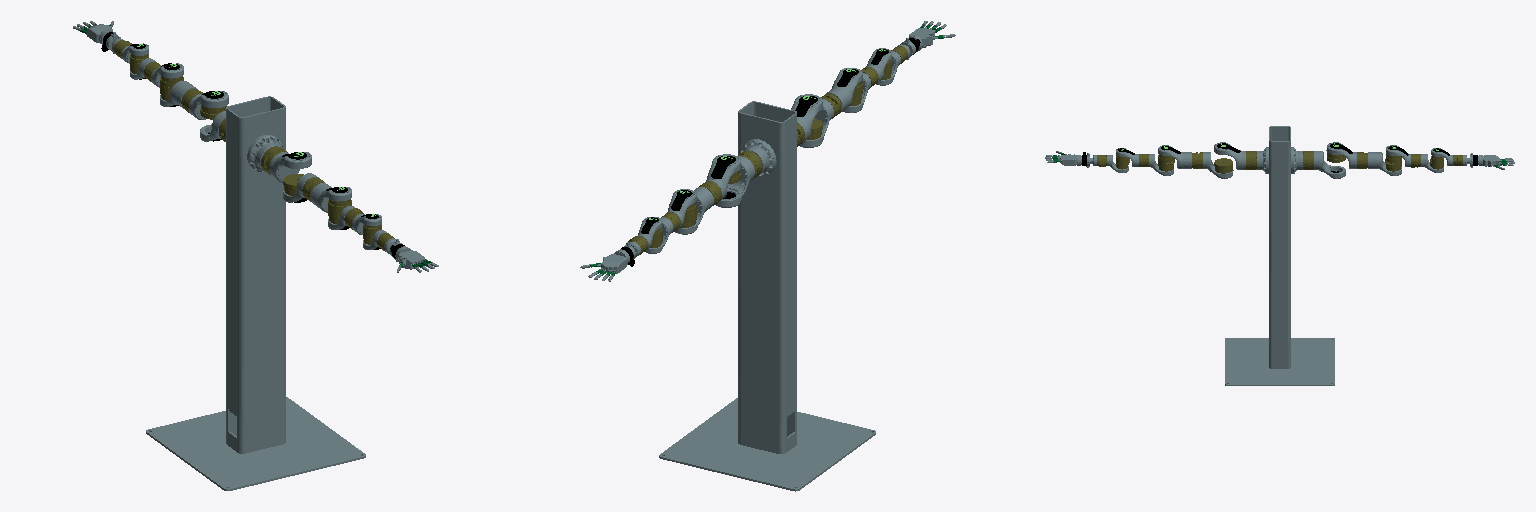
--- Render facts (derived) ---
3 views of the same robot in one strip: view 1: azimuth 30°, elevation 25°; view 2: azimuth 150°, elevation 25°; view 3: azimuth 270°, elevation 25° (orthographic).
Model hermesArm with 109 links and 108 joints (36 revolute, 72 fixed), rooted at pillar, posed all joints at 0.
Links seen in each view (by area): view 1: pillar, r_link1_link, r_base, r_link3_link, l_link2_link; view 2: pillar, l_link1_link, l_base, r_link3_link, l_link3_link; view 3: pillar.
Boxes of the visible links, bbox=[...] form: pillar: bbox=[146, 96, 365, 490]; r_link1_link: bbox=[269, 152, 311, 182]; r_base: bbox=[247, 135, 282, 171]; r_link3_link: bbox=[310, 183, 351, 212]; l_link2_link: bbox=[189, 91, 228, 119]; pillar: bbox=[659, 101, 875, 491]; l_link1_link: bbox=[715, 156, 754, 207]; l_base: bbox=[741, 139, 776, 175]; r_link3_link: bbox=[825, 68, 862, 113]; l_link3_link: bbox=[674, 187, 713, 234]; pillar: bbox=[1225, 126, 1334, 385].
Bounding box of the posed robot: 0.75 × 3.19 × 1.71 m (x, y, z).
95 mesh visuals loaded from 61 distinct referenced files (60 binary STL); not drawn: 2 (reference not matched to a file when rendering).

URDF robot description (hermesArm):
<?xml version="1.0"?>
<robot name="hermesArm">

 <!-- **************************** LINKS ***************************** -->
  <link name="pillar"> 
    <visual>
      <origin xyz="0 0 0"/>
      <geometry>
        <mesh filename="package://hermes_arm_kdl/stl/pillar.stl" />
      </geometry>
      <material name="link">
        <color rgba="0.4706 0.5451 0.5647 1"/>
      </material>
    </visual>
    <collision>
      <origin rpy="0 0 0" xyz="0 0 0"/>
      <geometry>
        <mesh filename="package://hermes_arm_kdl/stl/pillar.stl" />
      </geometry>
    </collision>	
  </link>

  <link name="l_base"> 
    <inertial>
      <origin xyz="0 0 0" /> 
      <mass value="1.0" />
      <inertia  ixx="1.0" ixy="0.0"  ixz="0.0"  iyy="1.0"  iyz="0.0"  izz="1.0" />
    </inertial>
    <visual>
      <origin xyz="0 0 0"/>
      <geometry>
        <mesh filename="package://hermes_arm_kdl/stl/schunk_base1.stl" />
      </geometry>
      <material name="link">
        <color rgba="0.4706 0.5451 0.5647 1"/>
      </material>
    </visual>
    <collision>
      <origin rpy="0 0 0" xyz="0 0 0"/>
      <geometry>
        <mesh filename="package://hermes_arm_kdl/stl/schunk_base1.stl" />
      </geometry>
    </collision>	
  </link>

  <link name="l_base_motor"> 
    <inertial>
      <origin xyz="0 0 0" /> 
      <mass value="1.0" />
      <inertia  ixx="1.0" ixy="0.0"  ixz="0.0"  iyy="1.0"  iyz="0.0"  izz="1.0" />
    </inertial>
    <visual>
      <origin xyz="0 0 0"/>
      <geometry>
        <mesh filename="package://hermes_arm_kdl/stl/schunk_base2.stl" />
      </geometry>
      <material name="motor">
        <color rgba="0.3922 0.3922 0.2118 1"/>
      </material>
    </visual>
    <collision>
      <origin rpy="0 0 0" xyz="0 0 0"/>
      <geometry>
        <mesh filename="package://hermes_arm_kdl/stl/schunk_base2.stl" />
      </geometry>
    </collision>	
  </link>

  <link name="l_link1_motor"> 
    <inertial>
      <origin xyz="0 0 0" /> 
      <mass value="1.0" />
      <inertia  ixx="1.0" ixy="0.0"  ixz="0.0"  iyy="1.0"  iyz="0.0"  izz="1.0" />
    </inertial>
    <visual>
      <origin xyz="0 0 0"/>
      <geometry>
        <mesh filename="package://hermes_arm_kdl/stl/schunk_link1_1.stl" />
      </geometry>
      <material name="motor">
        <color rgba="0.3922 0.3922 0.2118 1"/>
      </material>
    </visual>
    <collision>
      <origin rpy="0 0 0" xyz="0 0 0"/>
      <geometry>
        <mesh filename="package://hermes_arm_kdl/stl/schunk_link1_1.stl" />
      </geometry>
    </collision>	
  </link>

  <link name="l_link1_link"> 
    <inertial>
      <origin xyz="0 0 0" /> 
      <mass value="1.0" />
      <inertia  ixx="1.0" ixy="0.0"  ixz="0.0"  iyy="1.0"  iyz="0.0"  izz="1.0" />
    </inertial>
    <visual>
      <origin xyz="0 0 0"/>
      <geometry>
        <mesh filename="package://hermes_arm_kdl/stl/schunk_link1_2.stl" />
      </geometry>
      <material name="link">
        <color rgba="0.4706 0.5451 0.5647 1"/>
      </material>
    </visual>
    <collision>
      <origin rpy="0 0 0" xyz="0 0 0"/>
      <geometry>
        <mesh filename="package://hermes_arm_kdl/stl/schunk_link1_2.stl" />
      </geometry>
    </collision>	
  </link>
  

  <link name="l_link1_tapa"> 
    <inertial>
      <origin xyz="0 0 0" /> 
      <mass value="1.0" />
      <inertia  ixx="1.0" ixy="0.0"  ixz="0.0"  iyy="1.0"  iyz="0.0"  izz="1.0" />
    </inertial>
    <visual>
      <origin xyz="0 0 0"/>
      <geometry>
        <mesh filename="package://hermes_arm_kdl/stl/schunk_link1_3.stl" />
      </geometry>
      <material name="tapa">
        <color rgba="0.0100 0.0100 0.0100 1"/>
      </material>
    </visual>
    <collision>
      <origin rpy="0 0 0" xyz="0 0 0"/>
      <geometry>
        <mesh filename="package://hermes_arm_kdl/stl/schunk_link1_3.stl" />
      </geometry>
    </collision>	
  </link>

  <link name="l_link1_nbio"> 
    <inertial>
      <origin xyz="0 0 0" /> 
      <mass value="1.0" />
      <inertia  ixx="1.0" ixy="0.0"  ixz="0.0"  iyy="1.0"  iyz="0.0"  izz="1.0" />
    </inertial>
    <visual>
      <origin xyz="0 0 0"/>
      <geometry>
        <mesh filename="package://hermes_arm_kdl/stl/schunk_link1_4.stl" />
      </geometry>
      <material name="nbio">
        <color rgba="0.5100 0.9100 0.5100 1"/>
      </material>
    </visual>
    <collision>
      <origin rpy="0 0 0" xyz="0 0 0"/>
      <geometry>
        <mesh filename="package://hermes_arm_kdl/stl/schunk_link1_4.stl" />
      </geometry>
    </collision>	
  </link>


  <link name="l_link1_motor2"> 
    <inertial>
      <origin xyz="0 0 0" /> 
      <mass value="1.0" />
      <inertia  ixx="1.0" ixy="0.0"  ixz="0.0"  iyy="1.0"  iyz="0.0"  izz="1.0" />
    </inertial>
    <visual>
      <origin xyz="0 0 0"/>
      <geometry>
        <mesh filename="package://hermes_arm_kdl/stl/schunk_link1_5.stl" />
      </geometry>
      <material name="motor">
        <color rgba="0.3922 0.3922 0.2118 1"/>
      </material>
    </visual>
    <collision>
      <origin rpy="0 0 0" xyz="0 0 0"/>
      <geometry>
        <mesh filename="package://hermes_arm_kdl/stl/schunk_link1_5.stl" />
      </geometry>
    </collision>	
  </link>

  <link name="l_link2_motor"> 
    <inertial>
      <origin xyz="0 0 0" /> 
      <mass value="1.0" />
      <inertia  ixx="1.0" ixy="0.0"  ixz="0.0"  iyy="1.0"  iyz="0.0"  izz="1.0" />
    </inertial>
    <visual>
      <origin xyz="0 0 0"/>
      <geometry>
        <mesh filename="package://hermes_arm_kdl/stl/schunk_link2_1.stl" />
      </geometry>
      <material name="motor">
        <color rgba="0.3922 0.3922 0.2118 1"/>
      </material>
    </visual>
    <collision>
      <origin rpy="0 0 0" xyz="0 0 0"/>
      <geometry>
        <mesh filename="package://hermes_arm_kdl/stl/schunk_link2_1.stl" />
      </geometry>
    </collision>	
  </link>

  <link name="l_link2_link"> 
    <inertial>
      <origin xyz="0 0 0" /> 
      <mass value="1.0" />
      <inertia  ixx="1.0" ixy="0.0"  ixz="0.0"  iyy="1.0"  iyz="0.0"  izz="1.0" />
    </inertial>
    <visual>
      <origin xyz="0 0 0"/>
      <geometry>
        <mesh filename="package://hermes_arm_kdl/stl/schunk_link2_2.stl" />
      </geometry>
      <material name="link">
        <color rgba="0.4706 0.5451 0.5647 1"/>
      </material>
    </visual>
    <collision>
      <origin rpy="0 0 0" xyz="0 0 0"/>
      <geometry>
        <mesh filename="package://hermes_arm_kdl/stl/schunk_link2_2.stl" />
      </geometry>
    </collision>	
  </link>

  <link name="l_link2_tapa"> 
    <inertial>
      <origin xyz="0 0 0" /> 
      <mass value="1.0" />
      <inertia  ixx="1.0" ixy="0.0"  ixz="0.0"  iyy="1.0"  iyz="0.0"  izz="1.0" />
    </inertial>
    <visual>
      <origin xyz="0 0 0"/>
      <geometry>
        <mesh filename="package://hermes_arm_kdl/stl/schunk_link2_3.stl" />
      </geometry>
      <material name="tapa">
        <color rgba="0.0100 0.0100 0.0100 1"/>
      </material>
    </visual>
    <collision>
      <origin rpy="0 0 0" xyz="0 0 0"/>
      <geometry>
        <mesh filename="package://hermes_arm_kdl/stl/schunk_link2_3.stl" />
      </geometry>
    </collision>	
  </link>

  <link name="l_link2_nbio"> 
    <inertial>
      <origin xyz="0 0 0" /> 
      <mass value="1.0" />
      <inertia  ixx="1.0" ixy="0.0"  ixz="0.0"  iyy="1.0"  iyz="0.0"  izz="1.0" />
    </inertial>
    <visual>
      <origin xyz="0 0 0"/>
      <geometry>
        <mesh filename="package://hermes_arm_kdl/stl/schunk_link2_4.stl" />
      </geometry>
      <material name="nbio">
        <color rgba="0.5100 0.9100 0.5100 1"/>
      </material>
    </visual>
    <collision>
      <origin rpy="0 0 0" xyz="0 0 0"/>
      <geometry>
        <mesh filename="package://hermes_arm_kdl/stl/schunk_link2_4.stl" />
      </geometry>
    </collision>	
  </link>

  <link name="l_link2_motor2"> 
    <inertial>
      <origin xyz="0 0 0" /> 
      <mass value="1.0" />
      <inertia  ixx="1.0" ixy="0.0"  ixz="0.0"  iyy="1.0"  iyz="0.0"  izz="1.0" />
    </inertial>
    <visual>
      <origin xyz="0 0 0"/>
      <geometry>
        <mesh filename="package://hermes_arm_kdl/stl/schunk_link2_5.stl" />
      </geometry>
      <material name="motor">
        <color rgba="0.3922 0.3922 0.2118 1"/>
      </material>
    </visual>
    <collision>
      <origin rpy="0 0 0" xyz="0 0 0"/>
      <geometry>
        <mesh filename="package://hermes_arm_kdl/stl/schunk_link2_5.stl" />
      </geometry>
    </collision>	
  </link>

  <link name="l_link3_motor"> 
    <inertial>
      <origin xyz="0 0 0" /> 
      <mass value="1.0" />
      <inertia  ixx="1.0" ixy="0.0"  ixz="0.0"  iyy="1.0"  iyz="0.0"  izz="1.0" />
    </inertial>
    <visual>
      <origin xyz="0 0 0"/>
      <geometry>
        <mesh filename="package://hermes_arm_kdl/stl/schunk_link3_1.stl" />
      </geometry>
      <material name="motor">
        <color rgba="0.3922 0.3922 0.2118 1"/>
      </material>
    </visual>
    <collision>
      <origin rpy="0 0 0" xyz="0 0 0"/>
      <geometry>
        <mesh filename="package://hermes_arm_kdl/stl/schunk_link3_1.stl" />
      </geometry>
    </collision>	
  </link>

  <link name="l_link3_link"> 
    <inertial>
      <origin xyz="0 0 0" /> 
      <mass value="1.0" />
      <inertia  ixx="1.0" ixy="0.0"  ixz="0.0"  iyy="1.0"  iyz="0.0"  izz="1.0" />
    </inertial>
    <visual>
      <origin xyz="0 0 0"/>
      <geometry>
        <mesh filename="package://hermes_arm_kdl/stl/schunk_link3_2.stl" />
      </geometry>
      <material name="link">
        <color rgba="0.4706 0.5451 0.5647 1"/>
      </material>
    </visual>
    <collision>
      <origin rpy="0 0 0" xyz="0 0 0"/>
      <geometry>
        <mesh filename="package://hermes_arm_kdl/stl/schunk_link3_2.stl" />
      </geometry>
    </collision>	
  </link>

  <link name="l_link3_tapa"> 
    <inertial>
      <origin xyz="0 0 0" /> 
      <mass value="1.0" />
      <inertia  ixx="1.0" ixy="0.0"  ixz="0.0"  iyy="1.0"  iyz="0.0"  izz="1.0" />
    </inertial>
    <visual>
      <origin xyz="0 0 0"/>
      <geometry>
        <mesh filename="package://hermes_arm_kdl/stl/schunk_link3_3.stl" />
      </geometry>
      <material name="tapa">
        <color rgba="0.0100 0.0100 0.0100 1"/>
      </material>
    </visual>
    <collision>
      <origin rpy="0 0 0" xyz="0 0 0"/>
      <geometry>
        <mesh filename="package://hermes_arm_kdl/stl/schunk_link3_3.stl" />
      </geometry>
    </collision>	
  </link>

  <link name="l_link3_nbio"> 
    <inertial>
      <origin xyz="0 0 0" /> 
      <mass value="1.0" />
      <inertia  ixx="1.0" ixy="0.0"  ixz="0.0"  iyy="1.0"  iyz="0.0"  izz="1.0" />
    </inertial>
    <visual>
      <origin xyz="0 0 0"/>
      <geometry>
        <mesh filename="package://hermes_arm_kdl/stl/schunk_link3_4.stl" />
      </geometry>
      <material name="nbio">
        <color rgba="0.5100 0.9100 0.5100 1"/>
      </material>
    </visual>
    <collision>
      <origin rpy="0 0 0" xyz="0 0 0"/>
      <geometry>
        <mesh filename="package://hermes_arm_kdl/stl/schunk_link3_4.stl" />
      </geometry>
    </collision>	
  </link>

  <link name="l_link3_motor2"> 
    <inertial>
      <origin xyz="0 0 0" /> 
      <mass value="1.0" />
      <inertia  ixx="1.0" ixy="0.0"  ixz="0.0"  iyy="1.0"  iyz="0.0"  izz="1.0" />
    </inertial>
    <visual>
      <origin xyz="0 0 0"/>
      <geometry>
        <mesh filename="package://hermes_arm_kdl/stl/schunk_link3_5.stl" />
      </geometry>
      <material name="motor">
        <color rgba="0.3922 0.3922 0.2118 1"/>
      </material>
    </visual>
    <collision>
      <origin rpy="0 0 0" xyz="0 0 0"/>
      <geometry>
        <mesh filename="package://hermes_arm_kdl/stl/schunk_link3_5.stl" />
      </geometry>
    </collision>	
  </link>

  <link name="l_link4_motor"> 
    <inertial>
      <origin xyz="0 0 0" /> 
      <mass value="1.0" />
      <inertia  ixx="1.0" ixy="0.0"  ixz="0.0"  iyy="1.0"  iyz="0.0"  izz="1.0" />
    </inertial>
    <visual>
      <origin xyz="0 0 0"/>
      <geometry>
        <mesh filename="package://hermes_arm_kdl/stl/schunk_link4_1.stl" />
      </geometry>
      <material name="motor">
        <color rgba="0.3922 0.3922 0.2118 1"/>
      </material>
    </visual>
    <collision>
      <origin rpy="0 0 0" xyz="0 0 0"/>
      <geometry>
        <mesh filename="package://hermes_arm_kdl/stl/schunk_link4_1.stl" />
      </geometry>
    </collision>	
  </link>

  <link name="l_link4_link"> 
    <inertial>
      <origin xyz="0 0 0" /> 
      <mass value="1.0" />
      <inertia  ixx="1.0" ixy="0.0"  ixz="0.0"  iyy="1.0"  iyz="0.0"  izz="1.0" />
    </inertial>
    <visual>
      <origin xyz="0 0 0"/>
      <geometry>
        <mesh filename="package://hermes_arm_kdl/stl/schunk_link4_2.stl" />
      </geometry>
      <material name="link">
        <color rgba="0.4706 0.5451 0.5647 1"/>
      </material>
    </visual>
    <collision>
      <origin rpy="0 0 0" xyz="0 0 0"/>
      <geometry>
        <mesh filename="package://hermes_arm_kdl/stl/schunk_link4_2.stl" />
      </geometry>
    </collision>	
  </link>

  <link name="l_link4_tapa"> 
    <inertial>
      <origin xyz="0 0 0" /> 
      <mass value="1.0" />
      <inertia  ixx="1.0" ixy="0.0"  ixz="0.0"  iyy="1.0"  iyz="0.0"  izz="1.0" />
    </inertial>
    <visual>
      <origin xyz="0 0 0"/>
      <geometry>
        <mesh filename="package://hermes_arm_kdl/stl/schunk_link4_3.stl" />
      </geometry>
      <material name="tapa">
        <color rgba="0.0100 0.0100 0.0100 1"/>
      </material>
    </visual>
    <collision>
      <origin rpy="0 0 0" xyz="0 0 0"/>
      <geometry>
        <mesh filename="package://hermes_arm_kdl/stl/schunk_link4_3.stl" />
      </geometry>
    </collision>	
  </link>

  <link name="l_link4_nbio"> 
    <inertial>
      <origin xyz="0 0 0" /> 
      <mass value="1.0" />
      <inertia  ixx="1.0" ixy="0.0"  ixz="0.0"  iyy="1.0"  iyz="0.0"  izz="1.0" />
    </inertial>
    <visual>
      <origin xyz="0 0 0"/>
      <geometry>
        <mesh filename="package://hermes_arm_kdl/stl/schunk_link4_4.stl" />
      </geometry>
      <material name="nbio">
        <color rgba="0.5100 0.9100 0.5100 1"/>
      </material>
    </visual>
    <collision>
      <origin rpy="0 0 0" xyz="0 0 0"/>
      <geometry>
        <mesh filename="package://hermes_arm_kdl/stl/schunk_link4_4.stl" />
      </geometry>
    </collision>	
  </link>

  <link name="l_link4_motor2"> 
    <inertial>
      <origin xyz="0 0 0" /> 
      <mass value="1.0" />
      <inertia  ixx="1.0" ixy="0.0"  ixz="0.0"  iyy="1.0"  iyz="0.0"  izz="1.0" />
    </inertial>
    <visual>
      <origin xyz="0 0 0"/>
      <geometry>
        <mesh filename="package://hermes_arm_kdl/stl/schunk_link4_5.stl" />
      </geometry>
      <material name="motor">
        <color rgba="0.3922 0.3922 0.2118 1"/>
      </material>
    </visual>
    <collision>
      <origin rpy="0 0 0" xyz="0 0 0"/>
      <geometry>
        <mesh filename="package://hermes_arm_kdl/stl/schunk_link4_5.stl" />
      </geometry>
    </collision>	
  </link>

  <link name="l_link5_motor"> 
    <inertial>
      <origin xyz="0 0 0" /> 
      <mass value="1.0" />
      <inertia  ixx="1.0" ixy="0.0"  ixz="0.0"  iyy="1.0"  iyz="0.0"  izz="1.0" />
    </inertial>
    <visual>
      <origin xyz="0 0 0"/>
      <geometry>
        <mesh filename="package://hermes_arm_kdl/stl/schunk_link5_1.stl" />
      </geometry>
      <material name="motor">
        <color rgba="0.3922 0.3922 0.2118 1"/>
      </material>
    </visual>
    <collision>
      <origin rpy="0 0 0" xyz="0 0 0"/>
      <geometry>
        <mesh filename="package://hermes_arm_kdl/stl/schunk_link5_1.stl" />
      </geometry>
    </collision>	
  </link>

  <link name="l_link5_link"> 
    <inertial>
      <origin xyz="0 0 0" /> 
      <mass value="1.0" />
      <inertia  ixx="1.0" ixy="0.0"  ixz="0.0"  iyy="1.0"  iyz="0.0"  izz="1.0" />
    </inertial>
    <visual>
      <origin xyz="0 0 0"/>
      <geometry>
        <mesh filename="package://hermes_arm_kdl/stl/schunk_link5_2.stl" />
      </geometry>
      <material name="link">
        <color rgba="0.4706 0.5451 0.5647 1"/>
      </material>
    </visual>
    <collision>
      <origin rpy="0 0 0" xyz="0 0 0"/>
      <geometry>
        <mesh filename="package://hermes_arm_kdl/stl/schunk_link5_2.stl" />
      </geometry>
    </collision>	
  </link>

  <link name="l_link5_tapa"> 
    <inertial>
      <origin xyz="0 0 0" /> 
      <mass value="1.0" />
      <inertia  ixx="1.0" ixy="0.0"  ixz="0.0"  iyy="1.0"  iyz="0.0"  izz="1.0" />
    </inertial>
    <visual>
      <origin xyz="0 0 0"/>
      <geometry>
        <mesh filename="package://hermes_arm_kdl/stl/schunk_link5_3.stl" />
      </geometry>
      <material name="tapa">
        <color rgba="0.0100 0.0100 0.0100 1"/>
      </material>
    </visual>
    <collision>
      <origin rpy="0 0 0" xyz="0 0 0"/>
      <geometry>
        <mesh filename="package://hermes_arm_kdl/stl/schunk_link5_3.stl" />
      </geometry>
    </collision>	
  </link>

  <link name="l_link5_nbio"> 
    <inertial>
      <origin xyz="0 0 0" /> 
      <mass value="1.0" />
      <inertia  ixx="1.0" ixy="0.0"  ixz="0.0"  iyy="1.0"  iyz="0.0"  izz="1.0" />
    </inertial>
    <visual>
      <origin xyz="0 0 0"/>
      <geometry>
        <mesh filename="package://hermes_arm_kdl/stl/schunk_link5_4.stl" />
      </geometry>
      <material name="nbio">
        <color rgba="0.5100 0.9100 0.5100 1"/>
      </material>
    </visual>
    <collision>
      <origin rpy="0 0 0" xyz="0 0 0"/>
      <geometry>
        <mesh filename="package://hermes_arm_kdl/stl/schunk_link5_4.stl" />
      </geometry>
    </collision>	
  </link>

 <link name="l_link5_motor2"> 
    <inertial>
      <origin xyz="0 0 0" /> 
      <mass value="1.0" />
      <inertia  ixx="1.0" ixy="0.0"  ixz="0.0"  iyy="1.0"  iyz="0.0"  izz="1.0" />
    </inertial>
    <visual>
      <origin xyz="0 0 0"/>
      <geometry>
        <mesh filename="package://hermes_arm_kdl/stl/schunk_link5_5.stl" />
      </geometry>
      <material name="motor">
        <color rgba="0.3922 0.3922 0.2118 1"/>
      </material>
    </visual>
    <collision>
      <origin rpy="0 0 0" xyz="0 0 0"/>
      <geometry>
        <mesh filename="package://hermes_arm_kdl/stl/schunk_link5_5.stl" />
      </geometry>
    </collision>	
  </link>



  <link name="l_link6_motor"> 
    <inertial>
      <origin xyz="0 0 0" /> 
      <mass value="1.0" />
      <inertia  ixx="1.0" ixy="0.0"  ixz="0.0"  iyy="1.0"  iyz="0.0"  izz="1.0" />
    </inertial>
    <visual>
      <origin xyz="0 0 0"/>
      <geometry>
        <mesh filename="package://hermes_arm_kdl/stl/schunk_link6_1.stl" />
      </geometry>
      <material name="motor">
        <color rgba="0.3922 0.3922 0.2118 1"/>
      </material>
    </visual>
    <collision>
      <origin rpy="0 0 0" xyz="0 0 0"/>
      <geometry>
        <mesh filename="package://hermes_arm_kdl/stl/schunk_link6_1.stl" />
      </geometry>
    </collision>	
  </link>

  <link name="l_link6_link"> 
    <inertial>
      <origin xyz="0 0 0" /> 
      <mass value="1.0" />
      <inertia  ixx="1.0" ixy="0.0"  ixz="0.0"  iyy="1.0"  iyz="0.0"  izz="1.0" />
    </inertial>
    <visual>
      <origin xyz="0 0 0"/>
      <geometry>
        <mesh filename="package://hermes_arm_kdl/stl/schunk_link6_2.stl" />
      </geometry>
      <material name="link">
        <color rgba="0.4706 0.5451 0.5647 1"/>
      </material>
    </visual>
    <collision>
      <origin rpy="0 0 0" xyz="0 0 0"/>
      <geometry>
        <mesh filename="package://hermes_arm_kdl/stl/schunk_link6_2.stl" />
      </geometry>
    </collision>	
  </link>


  <link name="l_link6_tapa"> 
    <inertial>
      <origin xyz="0 0 0" /> 
      <mass value="1.0" />
      <inertia  ixx="1.0" ixy="0.0"  ixz="0.0"  iyy="1.0"  iyz="0.0"  izz="1.0" />
    </inertial>
    <visual>
      <origin xyz="0 0 0"/>
      <geometry>
        <mesh filename="package://hermes_arm_kdl/stl/schunk_link6_3.stl" />
      </geometry>
      <material name="tapa">
        <color rgba="0.0100 0.0100 0.0100 1"/>
      </material>
    </visual>
    <collision>
      <origin rpy="0 0 0" xyz="0 0 0"/>
      <geometry>
        <mesh filename="package://hermes_arm_kdl/stl/schunk_link6_3.stl" />
      </geometry>
    </collision>	
  </link>


  <link name="l_link6_nbio"> 
    <inertial>
      <origin xyz="0 0 0" /> 
      <mass value="1.0" />
      <inertia  ixx="1.0" ixy="0.0"  ixz="0.0"  iyy="1.0"  iyz="0.0"  izz="1.0" />
    </inertial>
    <visual>
      <origin xyz="0 0 0"/>
      <geometry>
        <mesh filename="package://hermes_arm_kdl/stl/schunk_link6_4.stl" />
      </geometry>
      <material name="nbio">
        <color rgba="0.5100 0.9100 0.5100 1"/>
      </material>
    </visual>
    <collision>
      <origin rpy="0 0 0" xyz="0 0 0"/>
      <geometry>
        <mesh filename="package://hermes_arm_kdl/stl/schunk_link6_4.stl" />
      </geometry>
    </collision>	
  </link>

  <link name="l_link6_motor2"> 
    <inertial>
      <origin xyz="0 0 0" /> 
      <mass value="1.0" />
      <inertia  ixx="1.0" ixy="0.0"  ixz="0.0"  iyy="1.0"  iyz="0.0"  izz="1.0" />
    </inertial>
    <visual>
      <origin xyz="0 0 0"/>
      <geometry>
        <mesh filename="package://hermes_arm_kdl/stl/schunk_link6_5.stl" />
      </geometry>
      <material name="motor">
        <color rgba="0.3922 0.3922 0.2118 1"/>
      </material>
    </visual>
    <collision>
      <origin rpy="0 0 0" xyz="0 0 0"/>
      <geometry>
        <mesh filename="package://hermes_arm_kdl/stl/schunk_link6_5.stl" />
      </geometry>
    </collision>	
  </link>
  
 
  <link name="l_link7_motor"> 
    <inertial>
      <origin xyz="0 0 0" /> 
      <mass value="1.0" />
      <inertia  ixx="1.0" ixy="0.0"  ixz="0.0"  iyy="1.0"  iyz="0.0"  izz="1.0" />
    </inertial>
    <visual>
      <origin xyz="0 0 0"/>
      <geometry>
        <mesh filename="package://hermes_arm_kdl/stl/schunk_link7_1.stl" />
      </geometry>
      <material name="motor">
        <color rgba="0.3922 0.3922 0.2118 1"/>
      </material>
    </visual>
    <collision>
      <origin rpy="0 0 0" xyz="0 0 0"/>
      <geometry>
        <mesh filename="package://hermes_arm_kdl/stl/schunk_link7_1.stl" />
      </geometry>
    </collision>	
  </link>


  <link name="l_link7_link"> 
    <inertial>
      <origin xyz="0 0 0" /> 
      <mass value="1.0" />
      <inertia  ixx="1.0" ixy="0.0"  ixz="0.0"  iyy="1.0"  iyz="0.0"  izz="1.0" />
    </inertial>
    <visual>
      <origin xyz="0 0 0"/>
      <geometry>
        <mesh filename="package://hermes_arm_kdl/stl/schunk_link7_2.stl" />
      </geometry>
      <material name="link">
        <color rgba="0.4706 0.5451 0.5647 1"/>
      </material>
    </visual>
    <collision>
      <origin rpy="0 0 0" xyz="0 0 0"/>
      <geometry>
        <mesh filename="package://hermes_arm_kdl/stl/schunk_link7_2.stl" />
      </geometry>
    </collision>	
  </link>

  <link name="l_link7_tapa"> 
    <inertial>
      <origin xyz="0 0 0" /> 
      <mass value="1.0" />
      <inertia  ixx="1.0" ixy="0.0"  ixz="0.0"  iyy="1.0"  iyz="0.0"  izz="1.0" />
    </inertial>
    <visual>
      <origin xyz="0 0 0"/>
      <geometry>
        <mesh filename="package://hermes_arm_kdl/stl/schunk_link7_3.stl" />
      </geometry>
      <material name="tapa">
        <color rgba="0.01 0.01 0.01 1"/>
      </material>
    </visual>
    <collision>
      <origin rpy="0 0 0" xyz="0 0 0"/>
      <geometry>
        <mesh filename="package://hermes_arm_kdl/stl/schunk_link7_3.stl" />
      </geometry>
    </collision>	
  </link>


  <link name="l_link7_link2"> 
    <inertial>
      <origin xyz="0 0 0" /> 
      <mass value="1.0" />
      <inertia  ixx="1.0" ixy="0.0"  ixz="0.0"  iyy="1.0"  iyz="0.0"  izz="1.0" />
    </inertial>
    <visual>
      <origin xyz="0 0 0"/>
      <geometry>
        <mesh filename="package://hermes_arm_kdl/stl/schunk_link7_4.stl" />
      </geometry>
      <material name="link">
        <color rgba="0.4706 0.5451 0.5647 1"/>
      </material>
    </visual>
    <collision>
      <origin rpy="0 0 0" xyz="0 0 0"/>
      <geometry>
        <mesh filename="package://hermes_arm_kdl/stl/schunk_link7_4.stl" />
      </geometry>
    </collision>
  </link>

  <link name="r_base"> 
    <inertial>
      <origin xyz="0 0 0" /> 
      <mass value="1.0" />
      <inertia  ixx="1.0" ixy="0.0"  ixz="0.0"  iyy="1.0"  iyz="0.0"  izz="1.0" />
    </inertial>
    <visual>
      <origin xyz="0 0 0"/>
      <geometry>
        <mesh filename="package://hermes_arm_kdl/stl/schunk_base1.stl" />
      </geometry>
      <material name="link">
        <color rgba="0.4706 0.5451 0.5647 1"/>
      </material>
    </visual>
    <collision>
      <origin rpy="0 0 0" xyz="0 0 0"/>
      <geometry>
        <mesh filename="package://hermes_arm_kdl/stl/schunk_base1.stl" />
      </geometry>
    </collision>	
  </link>

  <link name="r_base_motor"> 
    <inertial>
      <origin xyz="0 0 0" /> 
      <mass value="1.0" />
      <inertia  ixx="1.0" ixy="0.0"  ixz="0.0"  iyy="1.0"  iyz="0.0"  izz="1.0" />
    </inertial>
    <visual>
      <origin xyz="0 0 0"/>
      <geometry>
        <mesh filename="package://hermes_arm_kdl/stl/schunk_base2.stl" />
      </geometry>
      <material name="motor">
        <color rgba="0.3922 0.3922 0.2118 1"/>
      </material>
    </visual>
    <collision>
      <origin rpy="0 0 0" xyz="0 0 0"/>
      <geometry>
        <mesh filename="package://hermes_arm_kdl/stl/schunk_base2.stl" />
      </geometry>
    </collision>	
  </link>

  <link name="r_link1_motor"> 
    <inertial>
      <origin xyz="0 0 0" /> 
      <mass value="1.0" />
      <inertia  ixx="1.0" ixy="0.0"  ixz="0.0"  iyy="1.0"  iyz="0.0"  izz="1.0" />
    </inertial>
    <visual>
      <origin xyz="0 0 0"/>
      <geometry>
        <mesh filename="package://hermes_arm_kdl/stl/schunk_link1_1.stl" />
      </geometry>
      <material name="motor">
        <color rgba="0.3922 0.3922 0.2118 1"/>
      </material>
    </visual>
    <collision>
      <origin rpy="0 0 0" xyz="0 0 0"/>
      <geometry>
        <mesh filename="package://hermes_arm_kdl/stl/schunk_link1_1.stl" />
      </geometry>
    </collision>	
  </link>

  <link name="r_link1_link"> 
    <inertial>
      <origin xyz="0 0 0" /> 
      <mass value="1.0" />
      <inertia  ixx="1.0" ixy="0.0"  ixz="0.0"  iyy="1.0"  iyz="0.0"  izz="1.0" />
    </inertial>
    <visual>
      <origin xyz="0 0 0"/>
      <geometry>
        <mesh filename="package://hermes_arm_kdl/stl/schunk_link1_2.stl" />
      </geometry>
      <material name="link">
        <color rgba="0.4706 0.5451 0.5647 1"/>
      </material>
    </visual>
    <collision>
      <origin rpy="0 0 0" xyz="0 0 0"/>
      <geometry>
        <mesh filename="package://hermes_arm_kdl/stl/schunk_link1_2.stl" />
      </geometry>
    </collision>	
  </link>
  

  <link name="r_link1_tapa"> 
    <inertial>
      <origin xyz="0 0 0" /> 
      <mass value="1.0" />
      <inertia  ixx="1.0" ixy="0.0"  ixz="0.0"  iyy="1.0"  iyz="0.0"  izz="1.0" />
    </inertial>
    <visual>
      <origin xyz="0 0 0"/>
      <geometry>
        <mesh filename="package://hermes_arm_kdl/stl/schunk_link1_3.stl" />
      </geometry>
      <material name="tapa">
        <color rgba="0.0100 0.0100 0.0100 1"/>
      </material>
    </visual>
    <collision>
      <origin rpy="0 0 0" xyz="0 0 0"/>
      <geometry>
        <mesh filename="package://hermes_arm_kdl/stl/schunk_link1_3.stl" />
      </geometry>
    </collision>	
  </link>

  <link name="r_link1_nbio"> 
    <inertial>
      <origin xyz="0 0 0" /> 
      <mass value="1.0" />
      <inertia  ixx="1.0" ixy="0.0"  ixz="0.0"  iyy="1.0"  iyz="0.0"  izz="1.0" />
    </inertial>
    <visual>
      <origin xyz="0 0 0"/>
      <geometry>
        <mesh filename="package://hermes_arm_kdl/stl/schunk_link1_4.stl" />
      </geometry>
      <material name="nbio">
        <color rgba="0.5100 0.9100 0.5100 1"/>
      </material>
    </visual>
    <collision>
      <origin rpy="0 0 0" xyz="0 0 0"/>
      <geometry>
        <mesh filename="package://hermes_arm_kdl/stl/schunk_link1_4.stl" />
      </geometry>
    </collision>	
  </link>


  <link name="r_link1_motor2"> 
    <inertial>
      <origin xyz="0 0 0" /> 
      <mass value="1.0" />
      <inertia  ixx="1.0" ixy="0.0"  ixz="0.0"  iyy="1.0"  iyz="0.0"  izz="1.0" />
    </inertial>
    <visual>
      <origin xyz="0 0 0"/>
      <geometry>
        <mesh filename="package://hermes_arm_kdl/stl/schunk_link1_5.stl" />
      </geometry>
      <material name="motor">
        <color rgba="0.3922 0.3922 0.2118 1"/>
      </material>
    </visual>
    <collision>
      <origin rpy="0 0 0" xyz="0 0 0"/>
      <geometry>
        <mesh filename="package://hermes_arm_kdl/stl/schunk_link1_5.stl" />
      </geometry>
    </collision>	
  </link>

  <link name="r_link2_motor"> 
    <inertial>
      <origin xyz="0 0 0" /> 
      <mass value="1.0" />
      <inertia  ixx="1.0" ixy="0.0"  ixz="0.0"  iyy="1.0"  iyz="0.0"  izz="1.0" />
    </inertial>
    <visual>
      <origin xyz="0 0 0"/>
      <geometry>
        <mesh filename="package://hermes_arm_kdl/stl/schunk_link2_1.stl" />
      </geometry>
      <material name="motor">
        <color rgba="0.3922 0.3922 0.2118 1"/>
      </material>
    </visual>
    <collision>
      <origin rpy="0 0 0" xyz="0 0 0"/>
      <geometry>
        <mesh filename="package://hermes_arm_kdl/stl/schunk_link2_1.stl" />
      </geometry>
    </collision>	
  </link>

  <link name="r_link2_link"> 
    <inertial>
      <origin xyz="0 0 0" /> 
      <mass value="1.0" />
      <inertia  ixx="1.0" ixy="0.0"  ixz="0.0"  iyy="1.0"  iyz="0.0"  izz="1.0" />
    </inertial>
    <visual>
      <origin xyz="0 0 0"/>
      <geometry>
        <mesh filename="package://hermes_arm_kdl/stl/schunk_link2_2.stl" />
      </geometry>
      <material name="link">
        <color rgba="0.4706 0.5451 0.5647 1"/>
      </material>
    </visual>
    <collision>
      <origin rpy="0 0 0" xyz="0 0 0"/>
      <geometry>
        <mesh filename="package://hermes_arm_kdl/stl/schunk_link2_2.stl" />
      </geometry>
    </collision>	
  </link>

  <link name="r_link2_tapa"> 
    <inertial>
      <origin xyz="0 0 0" /> 
      <mass value="1.0" />
      <inertia  ixx="1.0" ixy="0.0"  ixz="0.0"  iyy="1.0"  iyz="0.0"  izz="1.0" />
    </inertial>
    <visual>
      <origin xyz="0 0 0"/>
      <geometry>
        <mesh filename="package://hermes_arm_kdl/stl/schunk_link2_3.stl" />
      </geometry>
      <material name="tapa">
        <color rgba="0.0100 0.0100 0.0100 1"/>
      </material>
    </visual>
    <collision>
      <origin rpy="0 0 0" xyz="0 0 0"/>
      <geometry>
        <mesh filename="package://hermes_arm_kdl/stl/schunk_link2_3.stl" />
      </geometry>
    </collision>	
  </link>

  <link name="r_link2_nbio"> 
    <inertial>
      <origin xyz="0 0 0" /> 
      <mass value="1.0" />
      <inertia  ixx="1.0" ixy="0.0"  ixz="0.0"  iyy="1.0"  iyz="0.0"  izz="1.0" />
    </inertial>
    <visual>
      <origin xyz="0 0 0"/>
      <geometry>
        <mesh filename="package://hermes_arm_kdl/stl/schunk_link2_4.stl" />
      </geometry>
      <material name="nbio">
        <color rgba="0.5100 0.9100 0.5100 1"/>
      </material>
    </visual>
    <collision>
      <origin rpy="0 0 0" xyz="0 0 0"/>
      <geometry>
        <mesh filename="package://hermes_arm_kdl/stl/schunk_link2_4.stl" />
      </geometry>
    </collision>	
  </link>

  <link name="r_link2_motor2"> 
    <inertial>
      <origin xyz="0 0 0" /> 
      <mass value="1.0" />
      <inertia  ixx="1.0" ixy="0.0"  ixz="0.0"  iyy="1.0"  iyz="0.0"  izz="1.0" />
    </inertial>
    <visual>
      <origin xyz="0 0 0"/>
      <geometry>
        <mesh filename="package://hermes_arm_kdl/stl/schunk_link2_5.stl" />
      </geometry>
      <material name="motor">
        <color rgba="0.3922 0.3922 0.2118 1"/>
      </material>
    </visual>
    <collision>
      <origin rpy="0 0 0" xyz="0 0 0"/>
      <geometry>
        <mesh filename="package://hermes_arm_kdl/stl/schunk_link2_5.stl" />
      </geometry>
    </collision>	
  </link>

  <link name="r_link3_motor"> 
    <inertial>
      <origin xyz="0 0 0" /> 
      <mass value="1.0" />
      <inertia  ixx="1.0" ixy="0.0"  ixz="0.0"  iyy="1.0"  iyz="0.0"  izz="1.0" />
    </inertial>
    <visual>
      <origin xyz="0 0 0"/>
      <geometry>
        <mesh filename="package://hermes_arm_kdl/stl/schunk_link3_1.stl" />
      </geometry>
      <material name="motor">
        <color rgba="0.3922 0.3922 0.2118 1"/>
      </material>
    </visual>
    <collision>
      <origin rpy="0 0 0" xyz="0 0 0"/>
      <geometry>
        <mesh filename="package://hermes_arm_kdl/stl/schunk_link3_1.stl" />
      </geometry>
    </collision>	
  </link>

  <link name="r_link3_link"> 
    <inertial>
      <origin xyz="0 0 0" /> 
      <mass value="1.0" />
      <inertia  ixx="1.0" ixy="0.0"  ixz="0.0"  iyy="1.0"  iyz="0.0"  izz="1.0" />
    </inertial>
    <visual>
      <origin xyz="0 0 0"/>
      <geometry>
        <mesh filename="package://hermes_arm_kdl/stl/schunk_link3_2.stl" />
      </geometry>
      <material name="link">
        <color rgba="0.4706 0.5451 0.5647 1"/>
      </material>
    </visual>
    <collision>
      <origin rpy="0 0 0" xyz="0 0 0"/>
      <geometry>
        <mesh filename="package://hermes_arm_kdl/stl/schunk_link3_2.stl" />
      </geometry>
    </collision>	
  </link>

  <link name="r_link3_tapa"> 
    <inertial>
      <origin xyz="0 0 0" /> 
      <mass value="1.0" />
      <inertia  ixx="1.0" ixy="0.0"  ixz="0.0"  iyy="1.0"  iyz="0.0"  izz="1.0" />
    </inertial>
    <visual>
      <origin xyz="0 0 0"/>
      <geometry>
        <mesh filename="package://hermes_arm_kdl/stl/schunk_link3_3.stl" />
      </geometry>
      <material name="tapa">
        <color rgba="0.0100 0.0100 0.0100 1"/>
      </material>
    </visual>
    <collision>
      <origin rpy="0 0 0" xyz="0 0 0"/>
      <geometry>
        <mesh filename="package://hermes_arm_kdl/stl/schunk_link3_3.stl" />
      </geometry>
    </collision>	
  </link>

  <link name="r_link3_nbio"> 
    <inertial>
      <origin xyz="0 0 0" /> 
      <mass value="1.0" />
      <inertia  ixx="1.0" ixy="0.0"  ixz="0.0"  iyy="1.0"  iyz="0.0"  izz="1.0" />
    </inertial>
    <visual>
      <origin xyz="0 0 0"/>
      <geometry>
        <mesh filename="package://hermes_arm_kdl/stl/schunk_link3_4.stl" />
      </geometry>
      <material name="nbio">
        <color rgba="0.5100 0.9100 0.5100 1"/>
      </material>
    </visual>
    <collision>
      <origin rpy="0 0 0" xyz="0 0 0"/>
      <geometry>
        <mesh filename="package://hermes_arm_kdl/stl/schunk_link3_4.stl" />
      </geometry>
    </collision>	
  </link>

  <link name="r_link3_motor2"> 
    <inertial>
      <origin xyz="0 0 0" /> 
      <mass value="1.0" />
      <inertia  ixx="1.0" ixy="0.0"  ixz="0.0"  iyy="1.0"  iyz="0.0"  izz="1.0" />
    </inertial>
    <visual>
      <origin xyz="0 0 0"/>
      <geometry>
        <mesh filename="package://hermes_arm_kdl/stl/schunk_link3_5.stl" />
      </geometry>
      <material name="motor">
        <color rgba="0.3922 0.3922 0.2118 1"/>
      </material>
    </visual>
    <collision>
      <origin rpy="0 0 0" xyz="0 0 0"/>
      <geometry>
        <mesh filename="package://hermes_arm_kdl/stl/schunk_link3_5.stl" />
      </geometry>
    </collision>	
  </link>

  <link name="r_link4_motor"> 
    <inertial>
      <origin xyz="0 0 0" /> 
      <mass value="1.0" />
      <inertia  ixx="1.0" ixy="0.0"  ixz="0.0"  iyy="1.0"  iyz="0.0"  izz="1.0" />
    </inertial>
    <visual>
      <origin xyz="0 0 0"/>
      <geometry>
        <mesh filename="package://hermes_arm_kdl/stl/schunk_link4_1.stl" />
      </geometry>
      <material name="motor">
        <color rgba="0.3922 0.3922 0.2118 1"/>
      </material>
    </visual>
    <collision>
      <origin rpy="0 0 0" xyz="0 0 0"/>
      <geometry>
        <mesh filename="package://hermes_arm_kdl/stl/schunk_link4_1.stl" />
      </geometry>
    </collision>	
  </link>

  <link name="r_link4_link"> 
    <inertial>
      <origin xyz="0 0 0" /> 
      <mass value="1.0" />
      <inertia  ixx="1.0" ixy="0.0"  ixz="0.0"  iyy="1.0"  iyz="0.0"  izz="1.0" />
    </inertial>
    <visual>
      <origin xyz="0 0 0"/>
      <geometry>
        <mesh filename="package://hermes_arm_kdl/stl/schunk_link4_2.stl" />
      </geometry>
      <material name="link">
        <color rgba="0.4706 0.5451 0.5647 1"/>
      </material>
    </visual>
    <collision>
      <origin rpy="0 0 0" xyz="0 0 0"/>
      <geometry>
        <mesh filename="package://hermes_arm_kdl/stl/schunk_link4_2.stl" />
      </geometry>
    </collision>	
  </link>

  <link name="r_link4_tapa"> 
    <inertial>
      <origin xyz="0 0 0" /> 
      <mass value="1.0" />
      <inertia  ixx="1.0" ixy="0.0"  ixz="0.0"  iyy="1.0"  iyz="0.0"  izz="1.0" />
    </inertial>
    <visual>
      <origin xyz="0 0 0"/>
      <geometry>
        <mesh filename="package://hermes_arm_kdl/stl/schunk_link4_3.stl" />
      </geometry>
      <material name="tapa">
        <color rgba="0.0100 0.0100 0.0100 1"/>
      </material>
    </visual>
    <collision>
      <origin rpy="0 0 0" xyz="0 0 0"/>
      <geometry>
        <mesh filename="package://hermes_arm_kdl/stl/schunk_link4_3.stl" />
      </geometry>
    </collision>	
  </link>

  <link name="r_link4_nbio"> 
    <inertial>
      <origin xyz="0 0 0" /> 
      <mass value="1.0" />
      <inertia  ixx="1.0" ixy="0.0"  ixz="0.0"  iyy="1.0"  iyz="0.0"  izz="1.0" />
    </inertial>
    <visual>
      <origin xyz="0 0 0"/>
      <geometry>
        <mesh filename="package://hermes_arm_kdl/stl/schunk_link4_4.stl" />
      </geometry>
      <material name="nbio">
        <color rgba="0.5100 0.9100 0.5100 1"/>
      </material>
    </visual>
    <collision>
      <origin rpy="0 0 0" xyz="0 0 0"/>
      <geometry>
        <mesh filename="package://hermes_arm_kdl/stl/schunk_link4_4.stl" />
      </geometry>
    </collision>	
  </link>

  <link name="r_link4_motor2"> 
    <inertial>
      <origin xyz="0 0 0" /> 
      <mass value="1.0" />
      <inertia  ixx="1.0" ixy="0.0"  ixz="0.0"  iyy="1.0"  iyz="0.0"  izz="1.0" />
    </inertial>
    <visual>
      <origin xyz="0 0 0"/>
      <geometry>
        <mesh filename="package://hermes_arm_kdl/stl/schunk_link4_5.stl" />
      </geometry>
      <material name="motor">
        <color rgba="0.3922 0.3922 0.2118 1"/>
      </material>
    </visual>
    <collision>
      <origin rpy="0 0 0" xyz="0 0 0"/>
      <geometry>
        <mesh filename="package://hermes_arm_kdl/stl/schunk_link4_5.stl" />
      </geometry>
    </collision>	
  </link>

  <link name="r_link5_motor"> 
    <inertial>
      <origin xyz="0 0 0" /> 
      <mass value="1.0" />
      <inertia  ixx="1.0" ixy="0.0"  ixz="0.0"  iyy="1.0"  iyz="0.0"  izz="1.0" />
    </inertial>
    <visual>
      <origin xyz="0 0 0"/>
      <geometry>
        <mesh filename="package://hermes_arm_kdl/stl/schunk_link5_1.stl" />
      </geometry>
      <material name="motor">
        <color rgba="0.3922 0.3922 0.2118 1"/>
      </material>
    </visual>
    <collision>
      <origin rpy="0 0 0" xyz="0 0 0"/>
      <geometry>
        <mesh filename="package://hermes_arm_kdl/stl/schunk_link5_1.stl" />
      </geometry>
    </collision>	
  </link>

  <link name="r_link5_link"> 
    <inertial>
      <origin xyz="0 0 0" /> 
      <mass value="1.0" />
      <inertia  ixx="1.0" ixy="0.0"  ixz="0.0"  iyy="1.0"  iyz="0.0"  izz="1.0" />
    </inertial>
    <visual>
      <origin xyz="0 0 0"/>
      <geometry>
        <mesh filename="package://hermes_arm_kdl/stl/schunk_link5_2.stl" />
      </geometry>
      <material name="link">
        <color rgba="0.4706 0.5451 0.5647 1"/>
      </material>
    </visual>
    <collision>
      <origin rpy="0 0 0" xyz="0 0 0"/>
      <geometry>
        <mesh filename="package://hermes_arm_kdl/stl/schunk_link5_2.stl" />
      </geometry>
    </collision>	
  </link>

  <link name="r_link5_tapa"> 
    <inertial>
      <origin xyz="0 0 0" /> 
      <mass value="1.0" />
      <inertia  ixx="1.0" ixy="0.0"  ixz="0.0"  iyy="1.0"  iyz="0.0"  izz="1.0" />
    </inertial>
    <visual>
      <origin xyz="0 0 0"/>
      <geometry>
        <mesh filename="package://hermes_arm_kdl/stl/schunk_link5_3.stl" />
      </geometry>
      <material name="tapa">
        <color rgba="0.0100 0.0100 0.0100 1"/>
      </material>
    </visual>
    <collision>
      <origin rpy="0 0 0" xyz="0 0 0"/>
      <geometry>
        <mesh filename="package://hermes_arm_kdl/stl/schunk_link5_3.stl" />
      </geometry>
    </collision>	
  </link>

  <link name="r_link5_nbio"> 
    <inertial>
      <origin xyz="0 0 0" /> 
      <mass value="1.0" />
      <inertia  ixx="1.0" ixy="0.0"  ixz="0.0"  iyy="1.0"  iyz="0.0"  izz="1.0" />
    </inertial>
    <visual>
      <origin xyz="0 0 0"/>
      <geometry>
        <mesh filename="package://hermes_arm_kdl/stl/schunk_link5_4.stl" />
      </geometry>
      <material name="nbio">
        <color rgba="0.5100 0.9100 0.5100 1"/>
      </material>
    </visual>
    <collision>
      <origin rpy="0 0 0" xyz="0 0 0"/>
      <geometry>
        <mesh filename="package://hermes_arm_kdl/stl/schunk_link5_4.stl" />
      </geometry>
    </collision>	
  </link>

 <link name="r_link5_motor2"> 
    <inertial>
      <origin xyz="0 0 0" /> 
      <mass value="1.0" />
      <inertia  ixx="1.0" ixy="0.0"  ixz="0.0"  iyy="1.0"  iyz="0.0"  izz="1.0" />
    </inertial>
    <visual>
      <origin xyz="0 0 0"/>
      <geometry>
        <mesh filename="package://hermes_arm_kdl/stl/schunk_link5_5.stl" />
      </geometry>
      <material name="motor">
        <color rgba="0.3922 0.3922 0.2118 1"/>
      </material>
    </visual>
    <collision>
      <origin rpy="0 0 0" xyz="0 0 0"/>
      <geometry>
        <mesh filename="package://hermes_arm_kdl/stl/schunk_link5_5.stl" />
      </geometry>
    </collision>	
  </link>



  <link name="r_link6_motor"> 
    <inertial>
      <origin xyz="0 0 0" /> 
      <mass value="1.0" />
      <inertia  ixx="1.0" ixy="0.0"  ixz="0.0"  iyy="1.0"  iyz="0.0"  izz="1.0" />
    </inertial>
    <visual>
      <origin xyz="0 0 0"/>
      <geometry>
        <mesh filename="package://hermes_arm_kdl/stl/schunk_link6_1.stl" />
      </geometry>
      <material name="motor">
        <color rgba="0.3922 0.3922 0.2118 1"/>
      </material>
    </visual>
    <collision>
      <origin rpy="0 0 0" xyz="0 0 0"/>
      <geometry>
        <mesh filename="package://hermes_arm_kdl/stl/schunk_link6_1.stl" />
      </geometry>
    </collision>	
  </link>

  <link name="r_link6_link"> 
    <inertial>
      <origin xyz="0 0 0" /> 
      <mass value="1.0" />
      <inertia  ixx="1.0" ixy="0.0"  ixz="0.0"  iyy="1.0"  iyz="0.0"  izz="1.0" />
    </inertial>
    <visual>
      <origin xyz="0 0 0"/>
      <geometry>
        <mesh filename="package://hermes_arm_kdl/stl/schunk_link6_2.stl" />
      </geometry>
      <material name="link">
        <color rgba="0.4706 0.5451 0.5647 1"/>
      </material>
    </visual>
    <collision>
      <origin rpy="0 0 0" xyz="0 0 0"/>
      <geometry>
        <mesh filename="package://hermes_arm_kdl/stl/schunk_link6_2.stl" />
      </geometry>
    </collision>	
  </link>


  <link name="r_link6_tapa"> 
    <inertial>
      <origin xyz="0 0 0" /> 
      <mass value="1.0" />
      <inertia  ixx="1.0" ixy="0.0"  ixz="0.0"  iyy="1.0"  iyz="0.0"  izz="1.0" />
    </inertial>
    <visual>
      <origin xyz="0 0 0"/>
      <geometry>
        <mesh filename="package://hermes_arm_kdl/stl/schunk_link6_3.stl" />
      </geometry>
      <material name="tapa">
        <color rgba="0.0100 0.0100 0.0100 1"/>
      </material>
    </visual>
    <collision>
      <origin rpy="0 0 0" xyz="0 0 0"/>
      <geometry>
        <mesh filename="package://hermes_arm_kdl/stl/schunk_link6_3.stl" />
      </geometry>
    </collision>	
  </link>


  <link name="r_link6_nbio"> 
    <inertial>
      <origin xyz="0 0 0" /> 
      <mass value="1.0" />
      <inertia  ixx="1.0" ixy="0.0"  ixz="0.0"  iyy="1.0"  iyz="0.0"  izz="1.0" />
    </inertial>
    <visual>
      <origin xyz="0 0 0"/>
      <geometry>
        <mesh filename="package://hermes_arm_kdl/stl/schunk_link6_4.stl" />
      </geometry>
      <material name="nbio">
        <color rgba="0.5100 0.9100 0.5100 1"/>
      </material>
    </visual>
    <collision>
      <origin rpy="0 0 0" xyz="0 0 0"/>
      <geometry>
        <mesh filename="package://hermes_arm_kdl/stl/schunk_link6_4.stl" />
      </geometry>
    </collision>	
  </link>

  <link name="r_link6_motor2"> 
    <inertial>
      <origin xyz="0 0 0" /> 
      <mass value="1.0" />
      <inertia  ixx="1.0" ixy="0.0"  ixz="0.0"  iyy="1.0"  iyz="0.0"  izz="1.0" />
    </inertial>
    <visual>
      <origin xyz="0 0 0"/>
      <geometry>
        <mesh filename="package://hermes_arm_kdl/stl/schunk_link6_5.stl" />
      </geometry>
      <material name="motor">
        <color rgba="0.3922 0.3922 0.2118 1"/>
      </material>
    </visual>
    <collision>
      <origin rpy="0 0 0" xyz="0 0 0"/>
      <geometry>
        <mesh filename="package://hermes_arm_kdl/stl/schunk_link6_5.stl" />
      </geometry>
    </collision>	
  </link>
  
 
  <link name="r_link7_motor"> 
    <inertial>
      <origin xyz="0 0 0" /> 
      <mass value="1.0" />
      <inertia  ixx="1.0" ixy="0.0"  ixz="0.0"  iyy="1.0"  iyz="0.0"  izz="1.0" />
    </inertial>
    <visual>
      <origin xyz="0 0 0"/>
      <geometry>
        <mesh filename="package://hermes_arm_kdl/stl/schunk_link7_1.stl" />
      </geometry>
      <material name="motor">
        <color rgba="0.3922 0.3922 0.2118 1"/>
      </material>
    </visual>
    <collision>
      <origin rpy="0 0 0" xyz="0 0 0"/>
      <geometry>
        <mesh filename="package://hermes_arm_kdl/stl/schunk_link7_1.stl" />
      </geometry>
    </collision>	
  </link>


  <link name="r_link7_link"> 
    <inertial>
      <origin xyz="0 0 0" /> 
      <mass value="1.0" />
      <inertia  ixx="1.0" ixy="0.0"  ixz="0.0"  iyy="1.0"  iyz="0.0"  izz="1.0" />
    </inertial>
    <visual>
      <origin xyz="0 0 0"/>
      <geometry>
        <mesh filename="package://hermes_arm_kdl/stl/schunk_link7_2.stl" />
      </geometry>
      <material name="link">
        <color rgba="0.4706 0.5451 0.5647 1"/>
      </material>
    </visual>
    <collision>
      <origin rpy="0 0 0" xyz="0 0 0"/>
      <geometry>
        <mesh filename="package://hermes_arm_kdl/stl/schunk_link7_2.stl" />
      </geometry>
    </collision>	
  </link>

  <link name="r_link7_tapa"> 
    <inertial>
      <origin xyz="0 0 0" /> 
      <mass value="1.0" />
      <inertia  ixx="1.0" ixy="0.0"  ixz="0.0"  iyy="1.0"  iyz="0.0"  izz="1.0" />
    </inertial>
    <visual>
      <origin xyz="0 0 0"/>
      <geometry>
        <mesh filename="package://hermes_arm_kdl/stl/schunk_link7_3.stl" />
      </geometry>
      <material name="tapa">
        <color rgba="0.01 0.01 0.01 1"/>
      </material>
    </visual>
    <collision>
      <origin rpy="0 0 0" xyz="0 0 0"/>
      <geometry>
        <mesh filename="package://hermes_arm_kdl/stl/schunk_link7_3.stl" />
      </geometry>
    </collision>	
  </link>


  <link name="r_link7_link2"> 
    <inertial>
      <origin xyz="0 0 0" /> 
      <mass value="1.0" />
      <inertia  ixx="1.0" ixy="0.0"  ixz="0.0"  iyy="1.0"  iyz="0.0"  izz="1.0" />
    </inertial>
    <visual>
      <origin xyz="0 0 0"/>
      <geometry>
        <mesh filename="package://hermes_arm_kdl/stl/schunk_link7_4.stl" />
      </geometry>
      <material name="link">
        <color rgba="0.4706 0.5451 0.5647 1"/>
      </material>
    </visual>
    <collision>
      <origin rpy="0 0 0" xyz="0 0 0"/>
      <geometry>
        <mesh filename="package://hermes_arm_kdl/stl/schunk_link7_4.stl" />
      </geometry>
    </collision>
  </link>

 <link name="l_base_hand"> 
    <inertial>
      <origin xyz="0 0 0" /> 
      <mass value="1.0" />
      <inertia  ixx="1.0" ixy="0.0"  ixz="0.0"  iyy="1.0"  iyz="0.0"  izz="1.0" />
    </inertial>
    <visual>
      <origin xyz="0 0 0"/>
      <geometry>
        <mesh filename="package://hermes_arm_kdl/stl/left_base_hand.stl" />
      </geometry>
      <material name="link">
        <color rgba="0.4706 0.5451 0.5647 1"/>
      </material>
    </visual>
    <collision>
      <origin rpy="0 0 0" xyz="0 0 0"/>
      <geometry>
        <mesh filename="package://hermes_arm_kdl/stl/left_base_hand.stl" />
      </geometry>
    </collision>	
  </link>

  <link name="l_thumb1"> 
    <inertial>
      <origin xyz="0 0 0" /> 
      <mass value="1.0" />
      <inertia  ixx="1.0" ixy="0.0"  ixz="0.0"  iyy="1.0"  iyz="0.0"  izz="1.0" />
    </inertial>
    <visual>
      <origin xyz="0 0 0"/>
      <geometry>
        <mesh filename="package://hermes_arm_kdl/stl/left_thumb_link1.stl" />
      </geometry>
      <material name="link">
        <color rgba="0.4706 0.5451 0.5647 1"/>
      </material>
    </visual>
    <collision>
      <origin rpy="0 0 0" xyz="0 0 0"/>
      <geometry>
        <mesh filename="package://hermes_arm_kdl/stl/left_thumb_link1.stl" />
      </geometry>
    </collision>	
  </link>

  <link name="l_thumb2"> 
    <inertial>
      <origin xyz="0 0 0" /> 
      <mass value="1.0" />
      <inertia  ixx="1.0" ixy="0.0"  ixz="0.0"  iyy="1.0"  iyz="0.0"  izz="1.0" />
    </inertial>
    <visual>
      <origin xyz="0 0 0"/>
      <geometry>
        <mesh filename="package://hermes_arm_kdl/stl/left_thumb_link2.stl" />
      </geometry>
      <material name="link2">
        <color rgba="0.03922 0.39922 0.2118 1"/>
      </material>
    </visual>
    <collision>
      <origin rpy="0 0 0" xyz="0 0 0"/>
      <geometry>
        <mesh filename="package://hermes_arm_kdl/stl/left_thumb_link2.stl" />
      </geometry>
    </collision>	
  </link>


  <link name="l_thumb3"> 
    <inertial>
      <origin xyz="0 0 0" /> 
      <mass value="1.0" />
      <inertia  ixx="1.0" ixy="0.0"  ixz="0.0"  iyy="1.0"  iyz="0.0"  izz="1.0" />
    </inertial>
    <visual>
      <origin xyz="0 0 0"/>
      <geometry>
        <mesh filename="package://hermes_arm_kdl/stl/left_thumb_link3.stl" />
      </geometry>
      <material name="link">
        <color rgba="0.4706 0.5451 0.5647 1"/>
      </material>
    </visual>
    <collision>
      <origin rpy="0 0 0" xyz="0 0 0"/>
      <geometry>
        <mesh filename="package://hermes_arm_kdl/stl/left_thumb_link3.stl" />
      </geometry>
    </collision>	
  </link>
  
  


  <link name="l_index1"> 
    <inertial>
      <origin xyz="0 0 0" /> 
      <mass value="1.0" />
      <inertia  ixx="1.0" ixy="0.0"  ixz="0.0"  iyy="1.0"  iyz="0.0"  izz="1.0" />
    </inertial>
    <visual>
      <origin xyz="0 0 0"/>
      <geometry>
        <mesh filename="package://hermes_arm_kdl/stl/left_index_link1.stl" />
      </geometry>
      <material name="link2">
        <color rgba="0.03922 0.39922 0.2118 1"/>
      </material>
    </visual>
    <collision>
      <origin rpy="0 0 0" xyz="0 0 0"/>
      <geometry>
        <mesh filename="package://hermes_arm_kdl/stl/left_index_link1.stl" />
      </geometry>
    </collision>	
  </link>

  <link name="l_index2"> 
    <inertial>
      <origin xyz="0 0 0" /> 
      <mass value="1.0" />
      <inertia  ixx="1.0" ixy="0.0"  ixz="0.0"  iyy="1.0"  iyz="0.0"  izz="1.0" />
    </inertial>
    <visual>
      <origin xyz="0 0 0"/>
      <geometry>
        <mesh filename="package://hermes_arm_kdl/stl/left_index_link2.stl" />
      </geometry>
      <material name="link">
        <color rgba="0.4706 0.5451 0.5647 1"/>
      </material>
    </visual>
    <collision>
      <origin rpy="0 0 0" xyz="0 0 0"/>
      <geometry>
        <mesh filename="package://hermes_arm_kdl/stl/left_index_link2.stl" />
      </geometry>
    </collision>	
  </link>



  <link name="l_middle1"> 
    <inertial>
      <origin xyz="0 0 0" /> 
      <mass value="1.0" />
      <inertia  ixx="1.0" ixy="0.0"  ixz="0.0"  iyy="1.0"  iyz="0.0"  izz="1.0" />
    </inertial>
    <visual>
      <origin xyz="0 0 0"/>
      <geometry>
        <mesh filename="package://hermes_arm_kdl/stl/left_middle_link1.stl" />
      </geometry>
      <material name="link2">
        <color rgba="0.03922 0.39922 0.2118 1"/>
      </material>
    </visual>
    <collision>
      <origin rpy="0 0 0" xyz="0 0 0"/>
      <geometry>
        <mesh filename="package://hermes_arm_kdl/stl/left_middle_link1.stl" />
      </geometry>
    </collision>	
  </link>

  <link name="l_middle2"> 
    <inertial>
      <origin xyz="0 0 0" /> 
      <mass value="1.0" />
      <inertia  ixx="1.0" ixy="0.0"  ixz="0.0"  iyy="1.0"  iyz="0.0"  izz="1.0" />
    </inertial>
    <visual>
      <origin xyz="0 0 0"/>
      <geometry>
        <mesh filename="package://hermes_arm_kdl/stl/left_middle_link2.stl" />
      </geometry>
      <material name="link">
        <color rgba="0.4706 0.5451 0.5647 1"/>
      </material>
    </visual>
    <collision>
      <origin rpy="0 0 0" xyz="0 0 0"/>
      <geometry>
        <mesh filename="package://hermes_arm_kdl/stl/left_middle_link2.stl" />
      </geometry>
    </collision>	
  </link>

 <link name="l_ring1"> 
    <inertial>
      <origin xyz="0 0 0" /> 
      <mass value="1.0" />
      <inertia  ixx="1.0" ixy="0.0"  ixz="0.0"  iyy="1.0"  iyz="0.0"  izz="1.0" />
    </inertial>
    <visual>
      <origin xyz="0 0 0"/>
      <geometry>
        <mesh filename="package://hermes_arm_kdl/stl/left_ring_link1.stl" />
      </geometry>
      <material name="link2">
        <color rgba="0.03922 0.39922 0.2118 1"/>
      </material>
    </visual>
    <collision>
      <origin rpy="0 0 0" xyz="0 0 0"/>
      <geometry>
        <mesh filename="package://hermes_arm_kdl/stl/left_ring_link1.stl" />
      </geometry>
    </collision>	
  </link>

    
  <link name="l_ring2"> 
    <inertial>
      <origin xyz="0 0 0" /> 
      <mass value="1.0" />
      <inertia  ixx="1.0" ixy="0.0"  ixz="0.0"  iyy="1.0"  iyz="0.0"  izz="1.0" />
    </inertial>
    <visual>
      <origin xyz="0 0 0"/>
      <geometry>
        <mesh filename="package://hermes_arm_kdl/stl/left_ring_link2.stl" />
      </geometry>
      <material name="link">
        <color rgba="0.4706 0.5451 0.5647 1"/>
      </material>
    </visual>
    <collision>
      <origin rpy="0 0 0" xyz="0 0 0"/>
      <geometry>
        <mesh filename="package://hermes_arm_kdl/stl/left_ring_link2.stl" />
      </geometry>
    </collision>	
  </link>


 <link name="l_pinky1"> 
    <inertial>
      <origin xyz="0 0 0" /> 
      <mass value="1.0" />
      <inertia  ixx="1.0" ixy="0.0"  ixz="0.0"  iyy="1.0"  iyz="0.0"  izz="1.0" />
    </inertial>
    <visual>
      <origin xyz="0 0 0"/>
      <geometry>
        <mesh filename="package://hermes_arm_kdl/stl/left_pinky_link1.stl" />
      </geometry>
      <material name="link2">
        <color rgba="0.03922 0.39922 0.2118 1"/>
      </material>
    </visual>
    <collision>
      <origin rpy="0 0 0" xyz="0 0 0"/>
      <geometry>
        <mesh filename="package://hermes_arm_kdl/stl/left_pinky_link1.stl" />
      </geometry>
    </collision>	
  </link>

  <link name="l_pinky2"> 
    <inertial>
      <origin xyz="0 0 0" /> 
      <mass value="1.0" />
      <inertia  ixx="1.0" ixy="0.0"  ixz="0.0"  iyy="1.0"  iyz="0.0"  izz="1.0" />
    </inertial>
    <visual>
      <origin xyz="0 0 0"/>
      <geometry>
        <mesh filename="package://hermes_arm_kdl/stl/left_pinky_link2.stl" />
      </geometry>
      <material name="link">
        <color rgba="0.4706 0.5451 0.5647 1"/>
      </material>
    </visual>
    <collision>
      <origin rpy="0 0 0" xyz="0 0 0"/>
      <geometry>
        <mesh filename="package://hermes_arm_kdl/stl/left_pinky_link2.stl" />
      </geometry>
    </collision>	
  </link>

 <link name="l_thumb_eef" /> 
 <link name="l_index_eef" />
 <link name="l_middle_eef" />
 <link name="l_ring_eef" />
 <link name="l_pinky_eef" />


 <link name="r_base_hand"> 
    <inertial>
      <origin xyz="0 0 0" /> 
      <mass value="1.0" />
      <inertia  ixx="1.0" ixy="0.0"  ixz="0.0"  iyy="1.0"  iyz="0.0"  izz="1.0" />
    </inertial>
    <visual>
      <origin xyz="0 0 0"/>
      <geometry>
        <mesh filename="package://hermes_arm_kdl/stl/right_base_hand.stl" />
      </geometry>
      <material name="link">
        <color rgba="0.4706 0.5451 0.5647 1"/>
      </material>
    </visual>
    <collision>
      <origin rpy="0 0 0" xyz="0 0 0"/>
      <geometry>
        <mesh filename="package://hermes_arm_kdl/stl/right_base_hand.stl" />
      </geometry>
    </collision>	
  </link>

  <link name="r_thumb1"> 
    <inertial>
      <origin xyz="0 0 0" /> 
      <mass value="1.0" />
      <inertia  ixx="1.0" ixy="0.0"  ixz="0.0"  iyy="1.0"  iyz="0.0"  izz="1.0" />
    </inertial>
    <visual>
      <origin xyz="0 0 0"/>
      <geometry>
        <mesh filename="package://hermes_arm_kdl/stl/right_thumb_link1.stl" />
      </geometry>
      <material name="link">
        <color rgba="0.4706 0.5451 0.5647 1"/>
      </material>
    </visual>
    <collision>
      <origin rpy="0 0 0" xyz="0 0 0"/>
      <geometry>
        <mesh filename="package://hermes_arm_kdl/stl/right_thumb_link1.stl" />
      </geometry>
    </collision>	
  </link>

  <link name="r_thumb2"> 
    <inertial>
      <origin xyz="0 0 0" /> 
      <mass value="1.0" />
      <inertia  ixx="1.0" ixy="0.0"  ixz="0.0"  iyy="1.0"  iyz="0.0"  izz="1.0" />
    </inertial>
    <visual>
      <origin xyz="0 0 0"/>
      <geometry>
        <mesh filename="package://hermes_arm_kdl/stl/right_thumb_link2.stl" />
      </geometry>
      <material name="link2">
        <color rgba="0.03922 0.39922 0.2118 1"/>
      </material>
    </visual>
    <collision>
      <origin rpy="0 0 0" xyz="0 0 0"/>
      <geometry>
        <mesh filename="package://hermes_arm_kdl/stl/right_thumb_link2.stl" />
      </geometry>
    </collision>	
  </link>


  <link name="r_thumb3"> 
    <inertial>
      <origin xyz="0 0 0" /> 
      <mass value="1.0" />
      <inertia  ixx="1.0" ixy="0.0"  ixz="0.0"  iyy="1.0"  iyz="0.0"  izz="1.0" />
    </inertial>
    <visual>
      <origin xyz="0 0 0"/>
      <geometry>
        <mesh filename="package://hermes_arm_kdl/stl/right_thumb_link3.stl" />
      </geometry>
      <material name="link">
        <color rgba="0.4706 0.5451 0.5647 1"/>
      </material>
    </visual>
    <collision>
      <origin rpy="0 0 0" xyz="0 0 0"/>
      <geometry>
        <mesh filename="package://hermes_arm_kdl/stl/right_thumb_link3.stl" />
      </geometry>
    </collision>	
  </link>
  
  


  <link name="r_index1"> 
    <inertial>
      <origin xyz="0 0 0" /> 
      <mass value="1.0" />
      <inertia  ixx="1.0" ixy="0.0"  ixz="0.0"  iyy="1.0"  iyz="0.0"  izz="1.0" />
    </inertial>
    <visual>
      <origin xyz="0 0 0"/>
      <geometry>
        <mesh filename="package://hermes_arm_kdl/stl/right_index_link1.stl" />
      </geometry>
      <material name="link2">
        <color rgba="0.03922 0.39922 0.2118 1"/>
      </material>
    </visual>
    <collision>
      <origin rpy="0 0 0" xyz="0 0 0"/>
      <geometry>
        <mesh filename="package://hermes_arm_kdl/stl/right_index_link1.stl" />
      </geometry>
    </collision>	
  </link>

  <link name="r_index2"> 
    <inertial>
      <origin xyz="0 0 0" /> 
      <mass value="1.0" />
      <inertia  ixx="1.0" ixy="0.0"  ixz="0.0"  iyy="1.0"  iyz="0.0"  izz="1.0" />
    </inertial>
    <visual>
      <origin xyz="0 0 0"/>
      <geometry>
        <mesh filename="package://hermes_arm_kdl/stl/right_index_link2.stl" />
      </geometry>
      <material name="link">
        <color rgba="0.4706 0.5451 0.5647 1"/>
      </material>
    </visual>
    <collision>
      <origin rpy="0 0 0" xyz="0 0 0"/>
      <geometry>
        <mesh filename="package://hermes_arm_kdl/stl/right_index_link2.stl" />
      </geometry>
    </collision>	
  </link>



  <link name="r_middle1"> 
    <inertial>
      <origin xyz="0 0 0" /> 
      <mass value="1.0" />
      <inertia  ixx="1.0" ixy="0.0"  ixz="0.0"  iyy="1.0"  iyz="0.0"  izz="1.0" />
    </inertial>
    <visual>
      <origin xyz="0 0 0"/>
      <geometry>
        <mesh filename="package://hermes_arm_kdl/stl/right_middle_link1.stl" />
      </geometry>
      <material name="link2">
        <color rgba="0.03922 0.39922 0.2118 1"/>
      </material>
    </visual>
    <collision>
      <origin rpy="0 0 0" xyz="0 0 0"/>
      <geometry>
        <mesh filename="package://hermes_arm_kdl/stl/right_middle_link1.stl" />
      </geometry>
    </collision>	
  </link>

  <link name="r_middle2"> 
    <inertial>
      <origin xyz="0 0 0" /> 
      <mass value="1.0" />
      <inertia  ixx="1.0" ixy="0.0"  ixz="0.0"  iyy="1.0"  iyz="0.0"  izz="1.0" />
    </inertial>
    <visual>
      <origin xyz="0 0 0"/>
      <geometry>
        <mesh filename="package://hermes_arm_kdl/stl/right_middle_link2.stl" />
      </geometry>
      <material name="link">
        <color rgba="0.4706 0.5451 0.5647 1"/>
      </material>
    </visual>
    <collision>
      <origin rpy="0 0 0" xyz="0 0 0"/>
      <geometry>
        <mesh filename="package://hermes_arm_kdl/stl/right_middle_link2.stl" />
      </geometry>
    </collision>	
  </link>

 <link name="r_ring1"> 
    <inertial>
      <origin xyz="0 0 0" /> 
      <mass value="1.0" />
      <inertia  ixx="1.0" ixy="0.0"  ixz="0.0"  iyy="1.0"  iyz="0.0"  izz="1.0" />
    </inertial>
    <visual>
      <origin xyz="0 0 0"/>
      <geometry>
        <mesh filename="package://hermes_arm_kdl/stl/right_ring_link1.stl" />
      </geometry>
      <material name="link2">
        <color rgba="0.03922 0.39922 0.2118 1"/>
      </material>
    </visual>
    <collision>
      <origin rpy="0 0 0" xyz="0 0 0"/>
      <geometry>
        <mesh filename="package://hermes_arm_kdl/stl/right_ring_link1.stl" />
      </geometry>
    </collision>	
  </link>

  <link name="r_ring2"> 
    <inertial>
      <origin xyz="0 0 0" /> 
      <mass value="1.0" />
      <inertia  ixx="1.0" ixy="0.0"  ixz="0.0"  iyy="1.0"  iyz="0.0"  izz="1.0" />
    </inertial>
    <visual>
      <origin xyz="0 0 0"/>
      <geometry>
        <mesh filename="package://hermes_arm_kdl/stl/right_ring_link2.stl" />
      </geometry>
      <material name="link">
        <color rgba="0.4706 0.5451 0.5647 1"/>
      </material>
    </visual>
    <collision>
      <origin rpy="0 0 0" xyz="0 0 0"/>
      <geometry>
        <mesh filename="package://hermes_arm_kdl/stl/right_ring_link2.stl" />
      </geometry>
    </collision>	
  </link>


 <link name="r_pinky1"> 
    <inertial>
      <origin xyz="0 0 0" /> 
      <mass value="1.0" />
      <inertia  ixx="1.0" ixy="0.0"  ixz="0.0"  iyy="1.0"  iyz="0.0"  izz="1.0" />
    </inertial>
    <visual>
      <origin xyz="0 0 0"/>
      <geometry>
        <mesh filename="package://hermes_arm_kdl/stl/right_pinky_link1.stl" />
      </geometry>
      <material name="link2">
        <color rgba="0.03922 0.39922 0.2118 1"/>
      </material>
    </visual>
    <collision>
      <origin rpy="0 0 0" xyz="0 0 0"/>
      <geometry>
        <mesh filename="package://hermes_arm_kdl/stl/right_pinky_link1.stl" />
      </geometry>
    </collision>	
  </link>

  <link name="r_pinky2"> 
    <inertial>
      <origin xyz="0 0 0" /> 
      <mass value="1.0" />
      <inertia  ixx="1.0" ixy="0.0"  ixz="0.0"  iyy="1.0"  iyz="0.0"  izz="1.0" />
    </inertial>
    <visual>
      <origin xyz="0 0 0"/>
      <geometry>
        <mesh filename="package://hermes_arm_kdl/stl/right_pinky_link2.stl" />
      </geometry>
      <material name="link">
        <color rgba="0.4706 0.5451 0.5647 1"/>
      </material>
    </visual>
    <collision>
      <origin rpy="0 0 0" xyz="0 0 0"/>
      <geometry>
        <mesh filename="package://hermes_arm_kdl/stl/right_pinky_link2.stl" />
      </geometry>
    </collision>	
  </link>

 <link name="r_thumb_eef" /> 
 <link name="r_index_eef" />
 <link name="r_middle_eef" />
 <link name="r_ring_eef" />
 <link name="r_pinky_eef" />
    


  <link name="l_eef"/> 
  <link name="r_eef"/> 
 <!-- **************************** JOINTS ***************************** -->
  <joint name="pillar_leftArm" type="fixed">
    <parent link="pillar"/>
    <child link="l_base"/>
    <origin xyz="0 0.075 1.51" rpy="1.5707963267949 0 0" />
  </joint>


  <joint name="l_base_fixed" type="fixed">
    <parent link="l_base"/>
    <child link="l_base_motor"/>
  </joint>


  <joint name="l_joint1" type="revolute">
    <parent link="l_base_motor"/>
    <child link="l_link1_motor"/>
    <origin xyz="0 0 0" rpy="0 0 0" />
    <limit effort="100" velocity="100" lower="-3.14" upper="3.14" />
    <axis xyz="0 0 1" />
  </joint>

  <joint name="l_joint1_motor_link" type="fixed">
    <parent link="l_link1_motor"/>
    <child link="l_link1_link"/>
  </joint>
  
  <joint name="l_joint1_link_tapa" type="fixed">
    <parent link="l_link1_link"/>
    <child link="l_link1_tapa"/>
  </joint>

  <joint name="l_joint1_tapa_nbio" type="fixed">
    <parent link="l_link1_tapa"/>
    <child link="l_link1_nbio"/>
  </joint>

  <joint name="l_joint1_nbio_motor2" type="fixed">
    <parent link="l_link1_nbio"/>
    <child link="l_link1_motor2"/>
  </joint>

  <joint name="l_joint2" type="revolute">
    <parent link="l_link1_motor2"/>
    <child link="l_link2_motor"/>
    <origin xyz="0 0 -0.306" rpy="1.5707963267949 0 0" />
    <axis xyz="0 0 1" />
    <limit effort="100" velocity="100" lower="-1.83" upper="1.83" />
  </joint>

  <joint name="l_joint2_motor_link" type="fixed">
    <parent link="l_link2_motor"/>
    <child link="l_link2_link"/>
  </joint>

  <joint name="l_joint2_link_tapa" type="fixed">
    <parent link="l_link2_link"/>
    <child link="l_link2_tapa"/>
  </joint>

  <joint name="l_joint2_tapa_nbio" type="fixed">
    <parent link="l_link2_tapa"/>
    <child link="l_link2_nbio"/>
  </joint>

  <joint name="l_joint2_nbio_motor2" type="fixed">
    <parent link="l_link2_nbio"/>
    <child link="l_link2_motor2"/>
  </joint>

  <joint name="l_joint3" type="revolute">
    <parent link="l_link2_motor2"/>
    <child link="l_link3_motor"/>
    <origin xyz="0 0 0" rpy="-1.5707963267949 0 0" />
    <axis xyz="0 0 1" />
    <limit effort="100" velocity="100" lower="-3.14" upper="3.14" />
  </joint>

  <joint name="l_joint3_motor_link" type="fixed">
    <parent link="l_link3_motor"/>
    <child link="l_link3_link"/>
  </joint>

  <joint name="l_joint3_link_tapa" type="fixed">
    <parent link="l_link3_link"/>
    <child link="l_link3_tapa"/>
  </joint>

  <joint name="l_joint3_tapa_nbio" type="fixed">
    <parent link="l_link3_tapa"/>
    <child link="l_link3_nbio"/>
  </joint>

  <joint name="l_joint3_nbio_motor2" type="fixed">
    <parent link="l_link3_nbio"/>
    <child link="l_link3_motor2"/>
  </joint>

  <joint name="l_joint4" type="revolute">
    <parent link="l_link3_motor2"/>
    <child link="l_link4_motor"/>
    <origin xyz="0 0 -0.3910" rpy="1.5707963267949 0 0" />
    <axis xyz="0 0 1" />
    <limit effort="100" velocity="100" lower="-1.83" upper="1.83" />
  </joint>

  <joint name="l_joint4_motor_link" type="fixed">
    <parent link="l_link4_motor"/>
    <child link="l_link4_link"/>
  </joint>

  <joint name="l_joint4_link_tapa" type="fixed">
    <parent link="l_link4_link"/>
    <child link="l_link4_tapa"/>
  </joint>

  <joint name="l_joint4_tapa_nbio" type="fixed">
    <parent link="l_link4_tapa"/>
    <child link="l_link4_nbio"/>
  </joint>

  <joint name="l_joint4_nbio_motor2" type="fixed">
    <parent link="l_link4_nbio"/>
    <child link="l_link4_motor2"/>
  </joint>

  <joint name="l_joint5" type="revolute">
    <parent link="l_link4_motor2"/>
    <child link="l_link5_motor"/>
    <origin xyz="0 0 0" rpy="-1.5707963267949 0 0" />
    <axis xyz="0 0 1" /> 
    <limit effort="100" velocity="100" lower="-3.14" upper="3.14" />
  </joint>

  <joint name="l_joint5_motor_link" type="fixed">
    <parent link="l_link5_motor"/>
    <child link="l_link5_link"/>
  </joint>

  <joint name="l_joint5_link_tapa" type="fixed">
    <parent link="l_link5_link"/>
    <child link="l_link5_tapa"/>
  </joint>

  <joint name="l_joint5_tapa_nbio" type="fixed">
    <parent link="l_link5_tapa"/>
    <child link="l_link5_nbio"/>
  </joint>

  <joint name="l_joint5_nbio_motor2" type="fixed">
    <parent link="l_link5_nbio"/>
    <child link="l_link5_motor2"/>
  </joint>

  <joint name="l_joint6" type="revolute">
    <parent link="l_link5_motor2"/>
    <child link="l_link6_motor"/>
    <origin xyz="0 0 -0.2975" rpy="1.5707963267949 0 0" />
    <axis xyz="0 0 1" /> 
    <limit effort="100" velocity="100" lower="-1.83" upper="1.83" />
  </joint>

  <joint name="l_joint6_motor_link" type="fixed">
    <parent link="l_link6_motor"/>
    <child link="l_link6_link"/>
  </joint>

  <joint name="l_joint6_link_tapa" type="fixed">
    <parent link="l_link6_link"/>
    <child link="l_link6_tapa"/>
  </joint>

  <joint name="l_joint6_tapa_nbio" type="fixed">
    <parent link="l_link6_tapa"/>
    <child link="l_link6_nbio"/>
  </joint>

  <joint name="l_joint6_nbio_motor2" type="fixed">
    <parent link="l_link6_nbio"/>
    <child link="l_link6_motor2"/>
  </joint>


  <joint name="l_joint7" type="revolute">
    <parent link="l_link6_motor2"/>
    <child link="l_link7_motor"/>
    <origin xyz="0 0 0" rpy="-1.5707963267949 0 0" />
    <axis xyz="0 0 1" />
    <limit effort="100" velocity="100" lower="-3.14" upper="3.14" />
  </joint>

  <joint name="l_joint7_motor_link" type="fixed">
    <parent link="l_link7_motor"/>
    <child link="l_link7_link"/>
  </joint>

  <joint name="l_joint7_link_tapa" type="fixed">
    <parent link="l_link7_link"/>
    <child link="l_link7_tapa"/>
  </joint>

  <joint name="l_joint7_tapa_link2" type="fixed">
    <parent link="l_link7_tapa"/>
    <child link="l_link7_link2"/>
  </joint>

  <joint name="l_joint_eef" type="fixed">
    <parent link="l_link7_link2"/>
    <child link="l_eef"/>
    <origin xyz="0 0 -0.3045" rpy="3.1416 0 0" />
  </joint>
  
  <joint name="pillar_rightArm" type="fixed">
    <parent link="pillar"/>
    <child link="r_base"/>
    <origin xyz="0 -0.075 1.51" rpy="-1.5707963267949 0 0" />
  </joint>


  <joint name="r_base_fixed" type="fixed">
    <parent link="r_base"/>
    <child link="r_base_motor"/>
  </joint>


  <joint name="r_joint1" type="revolute">
    <parent link="r_base_motor"/>
    <child link="r_link1_motor"/>
    <origin xyz="0 0 0" rpy="0 0 0" />
    <limit effort="100" velocity="100" lower="-3.14" upper="3.14" />
    <axis xyz="0 0 1" />
  </joint>

  <joint name="r_joint1_motor_link" type="fixed">
    <parent link="r_link1_motor"/>
    <child link="r_link1_link"/>
  </joint>
  
  <joint name="r_joint1_link_tapa" type="fixed">
    <parent link="r_link1_link"/>
    <child link="r_link1_tapa"/>
  </joint>

  <joint name="r_joint1_tapa_nbio" type="fixed">
    <parent link="r_link1_tapa"/>
    <child link="r_link1_nbio"/>
  </joint>

  <joint name="r_joint1_nbio_motor2" type="fixed">
    <parent link="r_link1_nbio"/>
    <child link="r_link1_motor2"/>
  </joint>

  <joint name="r_joint2" type="revolute">
    <parent link="r_link1_motor2"/>
    <child link="r_link2_motor"/>
    <origin xyz="0 0 -0.306" rpy="1.5707963267949 0 0" />
    <axis xyz="0 0 1" />
    <limit effort="100" velocity="100" lower="-1.83" upper="1.83" />
  </joint>

  <joint name="r_joint2_motor_link" type="fixed">
    <parent link="r_link2_motor"/>
    <child link="r_link2_link"/>
  </joint>

  <joint name="r_joint2_link_tapa" type="fixed">
    <parent link="r_link2_link"/>
    <child link="r_link2_tapa"/>
  </joint>

  <joint name="r_joint2_tapa_nbio" type="fixed">
    <parent link="r_link2_tapa"/>
    <child link="r_link2_nbio"/>
  </joint>

  <joint name="r_joint2_nbio_motor2" type="fixed">
    <parent link="r_link2_nbio"/>
    <child link="r_link2_motor2"/>
  </joint>

  <joint name="r_joint3" type="revolute">
    <parent link="r_link2_motor2"/>
    <child link="r_link3_motor"/>
    <origin xyz="0 0 0" rpy="-1.5707963267949 0 0" />
    <axis xyz="0 0 1" />
    <limit effort="100" velocity="100" lower="-3.14" upper="3.14" />
  </joint>

  <joint name="r_joint3_motor_link" type="fixed">
    <parent link="r_link3_motor"/>
    <child link="r_link3_link"/>
  </joint>

  <joint name="r_joint3_link_tapa" type="fixed">
    <parent link="r_link3_link"/>
    <child link="r_link3_tapa"/>
  </joint>

  <joint name="r_joint3_tapa_nbio" type="fixed">
    <parent link="r_link3_tapa"/>
    <child link="r_link3_nbio"/>
  </joint>

  <joint name="r_joint3_nbio_motor2" type="fixed">
    <parent link="r_link3_nbio"/>
    <child link="r_link3_motor2"/>
  </joint>

  <joint name="r_joint4" type="revolute">
    <parent link="r_link3_motor2"/>
    <child link="r_link4_motor"/>
    <origin xyz="0 0 -0.3910" rpy="1.5707963267949 0 0" />
    <axis xyz="0 0 1" />
    <limit effort="100" velocity="100" lower="-1.83" upper="1.83" />
  </joint>

  <joint name="r_joint4_motor_link" type="fixed">
    <parent link="r_link4_motor"/>
    <child link="r_link4_link"/>
  </joint>

  <joint name="r_joint4_link_tapa" type="fixed">
    <parent link="r_link4_link"/>
    <child link="r_link4_tapa"/>
  </joint>

  <joint name="r_joint4_tapa_nbio" type="fixed">
    <parent link="r_link4_tapa"/>
    <child link="r_link4_nbio"/>
  </joint>

  <joint name="r_joint4_nbio_motor2" type="fixed">
    <parent link="r_link4_nbio"/>
    <child link="r_link4_motor2"/>
  </joint>

  <joint name="r_joint5" type="revolute">
    <parent link="r_link4_motor2"/>
    <child link="r_link5_motor"/>
    <origin xyz="0 0 0" rpy="-1.5707963267949 0 0" />
    <axis xyz="0 0 1" /> 
    <limit effort="100" velocity="100" lower="-3.14" upper="3.14" />
  </joint>

  <joint name="r_joint5_motor_link" type="fixed">
    <parent link="r_link5_motor"/>
    <child link="r_link5_link"/>
  </joint>

  <joint name="r_joint5_link_tapa" type="fixed">
    <parent link="r_link5_link"/>
    <child link="r_link5_tapa"/>
  </joint>

  <joint name="r_joint5_tapa_nbio" type="fixed">
    <parent link="r_link5_tapa"/>
    <child link="r_link5_nbio"/>
  </joint>

  <joint name="r_joint5_nbio_motor2" type="fixed">
    <parent link="r_link5_nbio"/>
    <child link="r_link5_motor2"/>
  </joint>

  <joint name="r_joint6" type="revolute">
    <parent link="r_link5_motor2"/>
    <child link="r_link6_motor"/>
    <origin xyz="0 0 -0.2975" rpy="1.5707963267949 0 0" />
    <axis xyz="0 0 1" /> 
    <limit effort="100" velocity="100" lower="-1.83" upper="1.83" />
  </joint>

  <joint name="r_joint6_motor_link" type="fixed">
    <parent link="r_link6_motor"/>
    <child link="r_link6_link"/>
  </joint>

  <joint name="r_joint6_link_tapa" type="fixed">
    <parent link="r_link6_link"/>
    <child link="r_link6_tapa"/>
  </joint>

  <joint name="r_joint6_tapa_nbio" type="fixed">
    <parent link="r_link6_tapa"/>
    <child link="r_link6_nbio"/>
  </joint>

  <joint name="r_joint6_nbio_motor2" type="fixed">
    <parent link="r_link6_nbio"/>
    <child link="r_link6_motor2"/>
  </joint>


  <joint name="r_joint7" type="revolute">
    <parent link="r_link6_motor2"/>
    <child link="r_link7_motor"/>
    <origin xyz="0 0 0" rpy="-1.5707963267949 0 0" />
    <axis xyz="0 0 1" />
    <limit effort="100" velocity="100" lower="-3.14" upper="3.14" />
  </joint>

  <joint name="r_joint7_motor_link" type="fixed">
    <parent link="r_link7_motor"/>
    <child link="r_link7_link"/>
  </joint>

  <joint name="r_joint7_link_tapa" type="fixed">
    <parent link="r_link7_link"/>
    <child link="r_link7_tapa"/>
  </joint>

  <joint name="r_joint7_tapa_link2" type="fixed">
    <parent link="r_link7_tapa"/>
    <child link="r_link7_link2"/>
  </joint>

  <joint name="r_joint_eef" type="fixed">
    <parent link="r_link7_link2"/>
    <child link="r_eef"/>
    <origin xyz="0 0 -0.3045" rpy="3.1416 0 0" />
  </joint>

 <joint name="l_joint_arm_hand" type="fixed">
    <parent link="l_eef"/>
    <child link="l_base_hand"/>
    <origin xyz="0 0 0" rpy="0 0 0" />
  </joint>

 <joint name="r_joint_arm_hand" type="fixed">
    <parent link="r_eef"/>
    <child link="r_base_hand"/>
    <origin xyz="0 0 0" rpy="0 0 0" />
  </joint>



  <joint name="l_thumb_joint1" type="revolute">
    <parent link="l_base_hand"/>
    <child link="l_thumb1"/>
    <origin xyz="0.0403  0.0095 0.0593" rpy="0 -0.8149 0" />
    <limit effort="100" velocity="100" lower="-3.14" upper="3.14" />
    <axis xyz="0 0 1" />
  </joint>

  <joint name="l_thumb_joint2" type="revolute">
    <parent link="l_thumb1"/>
    <child link="l_thumb2"/>
    <origin xyz="0.033 0 0" rpy="1.5708 0 0" />
    <limit effort="100" velocity="100" lower="-3.14" upper="3.14" />
    <axis xyz="0 0 1" />
  </joint>

  <joint name="l_thumb_joint3" type="revolute">
    <parent link="l_thumb2"/>
    <child link="l_thumb3"/>
    <origin xyz="0.035 0 0" rpy="0 0 0" />
    <limit effort="100" velocity="100" lower="-3.14" upper="3.14" />
    <axis xyz="0 0 1" />
  </joint>

  <joint name="l_thumb_joint_eef" type="fixed">
    <parent link="l_thumb3"/>
    <child link="l_thumb_eef"/>
    <origin xyz="0.055425 0 0" rpy="0 0 0" />
  </joint>


  <joint name="l_index_joint1" type="revolute">
    <parent link="l_base_hand"/>
    <child link="l_index1"/>
    <origin xyz="0.03 0.0145 0.1240" rpy="0 -1.4331 0" />
    <limit effort="100" velocity="100" lower="-3.14" upper="3.14" />
    <axis xyz="0 0 1" />
  </joint>

  <joint name="l_index_joint2" type="revolute">
    <parent link="l_index1"/>
    <child link="l_index2"/>
    <origin xyz="0.035 0 0" rpy="0 0 0" />
    <limit effort="100" velocity="100" lower="-3.14" upper="3.14" />
    <axis xyz="0 0 1" />
  </joint>

  <joint name="l_index_joint_eff" type="fixed">
    <parent link="l_index2"/>
    <child link="l_index_eef"/>
    <origin xyz="0.055425 0 0" rpy="0 0 0" />
  </joint>

  <joint name="l_middle_joint1" type="revolute">
    <parent link="l_base_hand"/>
    <child link="l_middle1"/>
    <origin xyz="0.0066 0.0145 0.1304" rpy="0 -1.5645 0" />
    <limit effort="100" velocity="100" lower="-3.14" upper="3.14" />
    <axis xyz="0 0 1" />
  </joint>

  <joint name="l_middle_joint2" type="revolute">
    <parent link="l_middle1"/>
    <child link="l_middle2"/>
    <origin xyz="0.035 0 0" rpy="0 0 0" />
    <limit effort="100" velocity="100" lower="-3.14" upper="3.14" />
    <axis xyz="0 0 1" />
  </joint>

  <joint name="l_middle_joint_eff" type="fixed">
    <parent link="l_middle2"/>
    <child link="l_middle_eef"/>
    <origin xyz="0.055425 0 0" rpy="0 0 0" />
  </joint>

  <joint name="l_ring_joint1" type="revolute">
    <parent link="l_base_hand"/>
    <child link="l_ring1"/>
    <origin xyz="-0.0168 0.0145 0.1246" rpy="-3.1416 -1.4081 -3.1416" />
    <limit effort="100" velocity="100" lower="-3.14" upper="3.14" />
    <axis xyz="0 0 1" />
  </joint>

  <joint name="l_ring_joint2" type="revolute">
    <parent link="l_ring1"/>
    <child link="l_ring2"/>
    <origin xyz="0.035 0 0" rpy="0 0 0" />
    <limit effort="100" velocity="100" lower="-3.14" upper="3.14" />
    <axis xyz="0 0 1" />
  </joint>

  <joint name="l_ring_joint_eff" type="fixed">
    <parent link="l_ring2"/>
    <child link="l_ring_eef"/>
    <origin xyz="0.055425 0 0" rpy="0 0 0" />
  </joint>

  <joint name="l_pinky_joint1" type="revolute">
    <parent link="l_base_hand"/>
    <child link="l_pinky1"/>
    <origin xyz="-0.0370 0.0145 0.1157" rpy="-3.1416 -1.3298 -3.1416" />
    <limit effort="100" velocity="100" lower="-3.14" upper="3.14" />
    <axis xyz="0 0 1" />
  </joint>

  <joint name="l_pinky_joint2" type="revolute">
    <parent link="l_pinky1"/>
    <child link="l_pinky2"/>
    <origin xyz="0.035 0 0" rpy="0 0 0" />
    <limit effort="100" velocity="100" lower="-3.14" upper="3.14" />
    <axis xyz="0 0 1" />
  </joint >

  <joint name="l_pinky_joint_eff" type="fixed">
    <parent link="l_pinky2"/>
    <child link="l_pinky_eef"/>
    <origin xyz="0.055425 0 0" rpy="0 0 0" />
  </joint>

  <joint name="r_thumb_joint1" type="revolute">
    <parent link="r_base_hand"/>
    <child link="r_thumb1"/>
    <origin xyz="-0.0403  0.0095 0.0593" rpy="0 -2.3858 0" />
    <limit effort="100" velocity="100" lower="-3.14" upper="3.14" />
    <axis xyz="0 0 1" />
  </joint>

  <joint name="r_thumb_joint2" type="revolute">
    <parent link="r_thumb1"/>
    <child link="r_thumb2"/>
    <origin xyz="0.033 0 0" rpy="-1.5708 0 0" />
    <limit effort="100" velocity="100" lower="-3.14" upper="3.14" />
    <axis xyz="0 0 1" />
  </joint>

  <joint name="r_thumb_joint3" type="revolute">
    <parent link="r_thumb2"/>
    <child link="r_thumb3"/>
    <origin xyz="0.035 0 0" rpy="0 0 0" />
    <limit effort="100" velocity="100" lower="-3.14" upper="3.14" />
    <axis xyz="0 0 1" />
  </joint>

  <joint name="r_thumb_joint_eef" type="fixed">
    <parent link="r_thumb3"/>
    <child link="r_thumb_eef"/>
    <origin xyz="0.055425 0 0" rpy="0 0 0" />
  </joint>


  <joint name="r_index_joint1" type="revolute">
    <parent link="r_base_hand"/>
    <child link="r_index1"/>
    <origin xyz="-0.03 0.0145 0.1240" rpy="-3.1416 -1.4331 -3.1416" />
    <limit effort="100" velocity="100" lower="-3.14" upper="3.14" />
    <axis xyz="0 0 1" />
  </joint>

  <joint name="r_index_joint2" type="revolute">
    <parent link="r_index1"/>
    <child link="r_index2"/>
    <origin xyz="0.035 0 0" rpy="0 0 0" />
    <limit effort="100" velocity="100" lower="-3.14" upper="3.14" />
    <axis xyz="0 0 1" />
  </joint>

  <joint name="r_index_joint_eff" type="fixed">
    <parent link="r_index2"/>
    <child link="r_index_eef"/>
    <origin xyz="0.055425 0 0" rpy="0 0 0" />
  </joint>

  <joint name="r_middle_joint1" type="revolute">
    <parent link="r_base_hand"/>
    <child link="r_middle1"/>
    <origin xyz="-0.0066 0.0145 0.1304" rpy="0 -1.5645 0" />
    <limit effort="100" velocity="100" lower="-3.14" upper="3.14" />
    <axis xyz="0 0 1" />
  </joint>

  <joint name="r_middle_joint2" type="revolute">
    <parent link="r_middle1"/>
    <child link="r_middle2"/>
    <origin xyz="0.035 0 0" rpy="0 0 0" />
    <limit effort="100" velocity="100" lower="-3.14" upper="3.14" />
    <axis xyz="0 0 1" />
  </joint>

  <joint name="r_middle_joint_eff" type="fixed">
    <parent link="r_middle2"/>
    <child link="r_middle_eef"/>
    <origin xyz="0.055425 0 0" rpy="0 0 0" />
  </joint>

  <joint name="r_ring_joint1" type="revolute">
    <parent link="r_base_hand"/>
    <child link="r_ring1"/>
    <origin xyz="0.0168 0.0145 0.1246" rpy="0 -1.4081 0" />
    <limit effort="100" velocity="100" lower="-3.14" upper="3.14" />
    <axis xyz="0 0 1" />
  </joint>

  <joint name="r_ring_joint2" type="revolute">
    <parent link="r_ring1"/>
    <child link="r_ring2"/>
    <origin xyz="0.035 0 0" rpy="0 0 0" />
    <limit effort="100" velocity="100" lower="-3.14" upper="3.14" />
    <axis xyz="0 0 1" />
  </joint>

  <joint name="r_ring_joint_eff" type="fixed">
    <parent link="r_ring2"/>
    <child link="r_ring_eef"/>
    <origin xyz="0.055425 0 0" rpy="0 0 0" />
  </joint>

  <joint name="r_pinky_joint1" type="revolute">
    <parent link="r_base_hand"/>
    <child link="r_pinky1"/>
    <origin xyz="0.0370 0.0145 0.1157" rpy="0 -1.3298 0" />
    <limit effort="100" velocity="100" lower="-3.14" upper="3.14" />
    <axis xyz="0 0 1" />
  </joint>

  <joint name="r_pinky_joint2" type="revolute">
    <parent link="r_pinky1"/>
    <child link="r_pinky2"/>
    <origin xyz="0.035 0 0" rpy="0 0 0" />
    <limit effort="100" velocity="100" lower="-3.14" upper="3.14" />
    <axis xyz="0 0 1" />
  </joint >

  <joint name="r_pinky_joint_eff" type="fixed">
    <parent link="r_pinky2"/>
    <child link="r_pinky_eef"/>
    <origin xyz="0.055425 0 0" rpy="0 0 0" />
  </joint>



</robot>
